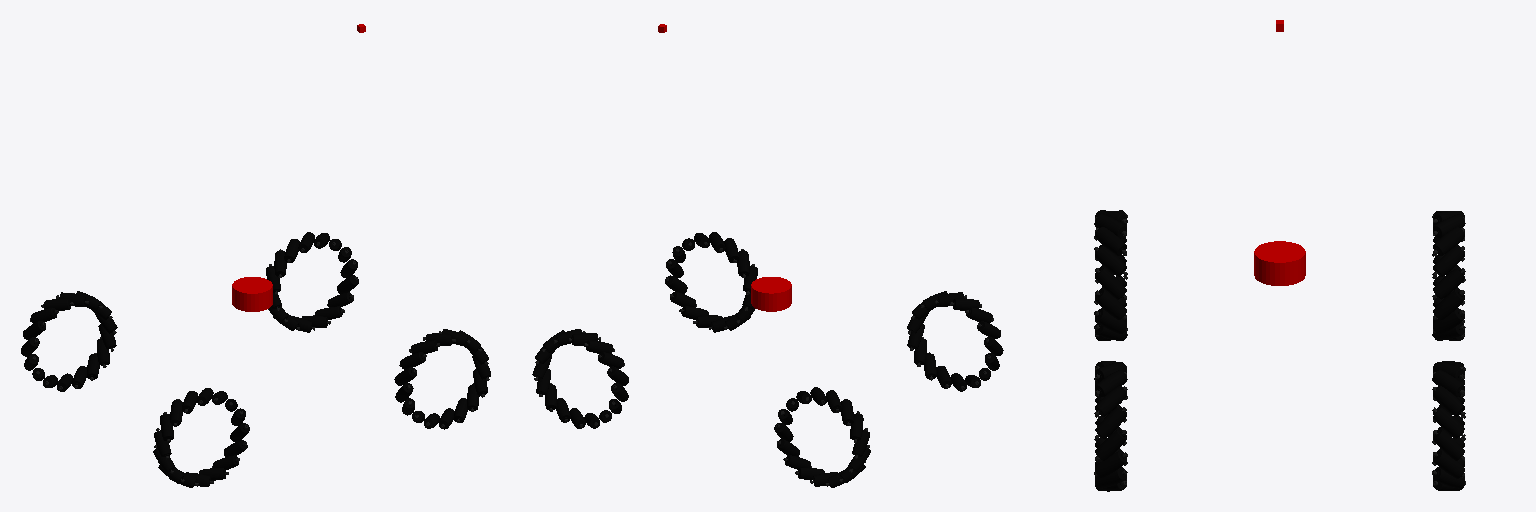
--- Render facts (derived) ---
The picture shows the robot from 3 angles, left to right: view 1: azimuth 30°, elevation 25°; view 2: azimuth 150°, elevation 25°; view 3: azimuth 270°, elevation 25°; orthographic projection.
Model robot with 81 links and 80 joints (6 revolute, 68 continuous, 2 prismatic, 4 fixed), rooted at world, posed all joints at 0.
Visible links, largest first — view 1: laser_frame; view 2: laser_frame; view 3: laser_frame, r5_LR_roller_link, r4_RR_roller_link, r3_RR_roller_link, r13_RF_roller_link, r4_LR_roller_link, r14_LF_roller_link, r15_LF_roller_link, r14_RF_roller_link, r3_LR_roller_link, r15_RF_roller_link, r5_RR_roller_link (+1 smaller).
Boxes of the visible links, bbox=[...] form: laser_frame: bbox=[232, 277, 272, 311]; laser_frame: bbox=[751, 277, 791, 311]; laser_frame: bbox=[1254, 241, 1305, 285]; r5_LR_roller_link: bbox=[1433, 290, 1464, 319]; r4_RR_roller_link: bbox=[1095, 268, 1126, 299]; r3_RR_roller_link: bbox=[1094, 246, 1127, 276]; r13_RF_roller_link: bbox=[1095, 430, 1126, 460]; r4_LR_roller_link: bbox=[1432, 268, 1465, 299]; r14_LF_roller_link: bbox=[1432, 407, 1465, 438]; r15_LF_roller_link: bbox=[1432, 386, 1465, 416]; r14_RF_roller_link: bbox=[1095, 407, 1126, 439]; r3_LR_roller_link: bbox=[1432, 246, 1464, 276]; r15_RF_roller_link: bbox=[1094, 386, 1127, 416]; r5_RR_roller_link: bbox=[1095, 290, 1126, 319].
Bounding box of the posed robot: 0.5668 × 0.4336 × 0.583 m (x, y, z).
Meshes: 12 distinct files referenced, 64 mesh visuals loaded (1 Collada DAE); not drawn: 14 (reference not matched to a file when rendering).

The robot description file, URDF, robot "robot":
<?xml version="1.0" ?>
<!-- =================================================================================== -->
<!-- |    This document was autogenerated by xacro from robot_description.urdf.xacro   | -->
<!-- |    EDITING THIS FILE BY HAND IS NOT RECOMMENDED                                 | -->
<!-- =================================================================================== -->
<robot name="robot">
  <!-- World 프레임 추가 -->
  <link name="world"/>
  <joint name="base_link_joint" type="fixed">
    <origin rpy="0 0 0" xyz="0 0 0"/>
    <parent link="world"/>
    <child link="base_link"/>
  </joint>
  <link name="base_link">
    <visual>
      <geometry>
        <mesh filename="package://robomaster_om_description/meshes/DAE/base/base_link_robomaster.dae"/>
      </geometry>
    </visual>
    <collision>
      <geometry>
        <mesh filename="package://robomaster_om_description/meshes/STL/base/base_link.stl"/>
      </geometry>
    </collision>
    <inertial>
      <origin xyz="-0.178 0 0"/>
      <mass value="6.44"/>
      <inertia ixx="0.055" ixy="0" ixz="0.005" iyy="0.143" iyz="0" izz="0.1637"/>
    </inertial>
    <surface>
      <friction>
        <ode>
          <mu>0.8</mu>
          <mu2>0.8</mu2>
          <kp>1e15</kp>
          <kd>1e13</kd>
        </ode>
      </friction>
      <bounce>
        <restitution_coefficient>0.01</restitution_coefficient>
        <threshold>10</threshold>
      </bounce>
      <contact>
        <ode>
          <max_vel>0.01</max_vel>
          <minDepth>0</minDepth>
          <contact_surface_layer>0</contact_surface_layer>
        </ode>
      </contact>
    </surface>
  </link>
  <!-- World -->
  <gazebo reference="world">
  </gazebo>
  <!-- Link1 -->
  <RefLink ref="link1"/>
  <!-- Link2 -->
  <RefLink ref="link2"/>
  <!-- Link3 -->
  <RefLink ref="link3"/>
  <!-- Link4 -->
  <RefLink ref="link4"/>
  <!-- Link5 -->
  <RefLink ref="link5"/>
  <!-- Link6 -->
  <RefLink ref="link6"/>
  <!-- Link7 -->
  <RefLink ref="link7"/>
  <!-- gripper_link -->
  <RefLink ref="gripper_link"/>
  <!-- gripper_link_sub -->
  <RefLink ref="gripper_link_sub"/>
  <!-- end effector link -->
  <gazebo reference="end_effector_link">
    <material>Gazebo/Red</material>
  </gazebo>
  <!-- ros_control plugin -->
  <gazebo>
    <plugin filename="libgazebo_ros_control.so" name="gazebo_ros_control">
      <!-- <robotNamespace>open_manipulator_6dof</robotNamespace> -->
      <controlPeriod>0.001</controlPeriod>
      <robotSimType>gazebo_ros_control/DefaultRobotHWSim</robotSimType>
    </plugin>
  </gazebo>
  <material name="black">
    <color rgba="0.0 0.0 0.0 1.0"/>
  </material>
  <material name="white">
    <color rgba="1.0 1.0 1.0 1.0"/>
  </material>
  <material name="red">
    <color rgba="0.8 0.0 0.0 1.0"/>
  </material>
  <material name="blue">
    <color rgba="0.0 0.0 0.8 1.0"/>
  </material>
  <material name="green">
    <color rgba="0.0 0.8 0.0 1.0"/>
  </material>
  <material name="grey">
    <color rgba="0.5 0.5 0.5 1.0"/>
  </material>
  <material name="orange">
    <color rgba="1.0 0.4235294117647059 0.0392156862745098 1.0"/>
  </material>
  <material name="brown">
    <color rgba="0.8705882352941177 0.8117647058823529 0.7647058823529411 1.0"/>
  </material>
  <!-- World -->
  <!-- <link name="world">
  </link> -->
  <!-- World fixed joint-->
  <!-- <joint name="world_fixed" type="fixed">
    <origin xyz="0 0 0" rpy="0 0 0"/>
    <parent link="world"/>
    <child link="link1"/>
  </joint> -->
  <!-- Link 1 -->
  <link name="link1">
    <visual>
      <origin rpy="0 0 0" xyz="0 0 0"/>
      <geometry>
        <mesh filename="package://robomaster_om_description/meshes/STL/chain_link1.stl" scale="0.001 0.001 0.001"/>
      </geometry>
      <material name="grey"/>
    </visual>
    <collision>
      <origin rpy="0 0 0" xyz="0 0 0"/>
      <geometry>
        <mesh filename="package://robomaster_om_description/meshes/STL/chain_link1.stl" scale="0.001 0.001 0.001"/>
      </geometry>
    </collision>
    <!--    <inertial>
      <origin xyz="0 0 0" />
      <mass value="0.082" />
      <inertia ixx="0.1" ixy="0.0" ixz="0.0"
               iyy="0.1" iyz="0.0"
               izz="0.1" />
    </inertial>-->
    <inertial>
      <origin xyz="3.0876154e-04 0.0000000e+00 -1.2176461e-04"/>
      <mass value="7.9119962e-02"/>
      <inertia ixx="1.2505234e-05" ixy="0.0" ixz="-1.7855208e-07" iyy="2.1898364e-05" iyz="0.0" izz="1.9267361e-05"/>
    </inertial>
  </link>
  <!-- Joint 1 -->
  <joint name="joint1" type="revolute">
    <parent link="link1"/>
    <child link="link2"/>
    <origin rpy="0 0 0" xyz="0.012 0.0 0.017"/>
    <axis xyz="0 0 1"/>
    <limit effort="1" lower="-2.827433388230814" upper="2.827433388230814" velocity="4.8"/>
  </joint>
  <transmission name="tran1">
    <type>transmission_interface/SimpleTransmission</type>
    <joint name="joint1">
      <hardwareInterface>hardware_interface/PositionJointInterface</hardwareInterface>
    </joint>
    <actuator name="motor1">
      <hardwareInterface>hardware_interface/PositionJointInterface</hardwareInterface>
      <mechanicalReduction>1</mechanicalReduction>
    </actuator>
  </transmission>
  <!--  Link 2 -->
  <link name="link2">
    <visual>
      <origin rpy="0 0 0" xyz="0 0 0.019"/>
      <geometry>
        <mesh filename="package://robomaster_om_description/meshes/STL/chain_link2.stl" scale="0.001 0.001 0.001"/>
      </geometry>
      <material name="grey"/>
    </visual>
    <collision>
      <origin rpy="0 0 0" xyz="0 0 0.019"/>
      <geometry>
        <mesh filename="package://robomaster_om_description/meshes/STL/chain_link2.stl" scale="0.001 0.001 0.001"/>
      </geometry>
    </collision>
    <!--    <inertial>
      <origin xyz="0 0 0" />
      <mass value="0.098" />
      <inertia ixx="0.1" ixy="0.0" ixz="0.0"
               iyy="0.1" iyz="0.0"
               izz="0.1" />
    </inertial>-->
    <inertial>
      <origin xyz="-3.0184870e-04 5.4043684e-04 0.047433463999999995"/>
      <mass value="9.8406837e-02"/>
      <inertia ixx="3.4543422e-05" ixy="-1.6031095e-08" ixz="-3.8375155e-07" iyy="3.2689329e-05" iyz="2.8511935e-08" izz="1.8850320e-05"/>
    </inertial>
  </link>
  <!--  Joint 2 -->
  <joint name="joint2" type="revolute">
    <parent link="link2"/>
    <child link="link3"/>
    <origin rpy="0 0 0" xyz="0.0 0.0 0.0595"/>
    <axis xyz="0 1 0"/>
    <limit effort="1" lower="-2.0420352248333655" upper="2.1048670779051615" velocity="4.8"/>
  </joint>
  <transmission name="tran2">
    <type>transmission_interface/SimpleTransmission</type>
    <joint name="joint2">
      <hardwareInterface>hardware_interface/PositionJointInterface</hardwareInterface>
    </joint>
    <actuator name="motor2">
      <hardwareInterface>hardware_interface/PositionJointInterface</hardwareInterface>
      <mechanicalReduction>1</mechanicalReduction>
    </actuator>
  </transmission>
  <!--  Link 3 -->
  <link name="link3">
    <visual>
      <origin rpy="0 0 0" xyz="0 0 0"/>
      <geometry>
        <mesh filename="package://robomaster_om_description/meshes/STL/chain_link3.stl" scale="0.001 0.001 0.001"/>
      </geometry>
      <material name="grey"/>
    </visual>
    <collision>
      <origin rpy="0 0 0" xyz="0 0 0"/>
      <geometry>
        <mesh filename="package://robomaster_om_description/meshes/STL/chain_link3.stl" scale="0.001 0.001 0.001"/>
      </geometry>
    </collision>
    <!-- <inertial>
      <origin xyz="0 0 0" />
      <mass value="0.131" />
      <inertia ixx="0.1" ixy="0.0" ixz="0.0"
               iyy="0.1" iyz="0.0"
               izz="0.1" />
    </inertial> -->
    <inertial>
      <origin xyz="1.0308393e-02 3.7743363e-04 1.0170197e-01"/>
      <mass value="1.3850917e-01"/>
      <inertia ixx="3.3055381e-04" ixy="-9.7940978e-08" ixz="-3.8505711e-05" iyy="3.4290447e-04" iyz="-1.5717516e-06" izz="6.0346498e-05"/>
    </inertial>
  </link>
  <!--  Joint 3 -->
  <joint name="joint3" type="revolute">
    <parent link="link3"/>
    <child link="link4"/>
    <origin rpy="0 0 0" xyz="0.0 0 0.124"/>
    <axis xyz="0 1 0"/>
    <limit effort="1" lower="-1.8849555921538759" upper="2.1362830044410597" velocity="4.8"/>
  </joint>
  <transmission name="tran3">
    <type>transmission_interface/SimpleTransmission</type>
    <joint name="joint3">
      <hardwareInterface>hardware_interface/PositionJointInterface</hardwareInterface>
    </joint>
    <actuator name="motor3">
      <hardwareInterface>hardware_interface/PositionJointInterface</hardwareInterface>
      <mechanicalReduction>1</mechanicalReduction>
    </actuator>
  </transmission>
  <!--  Link 4 -->
  <link name="link4">
    <visual>
      <origin rpy="0 0 0" xyz="0 0 0"/>
      <geometry>
        <mesh filename="package://robomaster_om_description/meshes/STL/chain_link4.stl" scale="0.001 0.001 0.001"/>
      </geometry>
      <material name="grey"/>
    </visual>
    <collision>
      <origin rpy="0 0 0" xyz="0 0 0"/>
      <geometry>
        <mesh filename="package://robomaster_om_description/meshes/STL/chain_link4.stl" scale="0.001 0.001 0.001"/>
      </geometry>
    </collision>
    <!-- <inertial>
      <origin xyz="0 0 0" />
      <mass value="0.098" />
      <inertia ixx="0.1" ixy="0.0" ixz="0.0"
               iyy="0.1" iyz="0.0"
               izz="0.1" />
    </inertial> -->
    <inertial>
      <origin xyz="9.0909590e-02 3.8929816e-04 2.2413279e-04"/>
      <mass value="1.3274562e-01"/>
      <inertia ixx="3.0654178e-05" ixy="-1.2764155e-06" ixz="-2.6874417e-07" iyy="2.4230292e-04" iyz="1.1559550e-08" izz="2.5155057e-04"/>
    </inertial>
  </link>
  <!--  Joint 4 -->
  <joint name="joint4" type="revolute">
    <parent link="link4"/>
    <child link="link5"/>
    <origin rpy="0 0 0" xyz="0.0 0.0 0.045"/>
    <axis xyz="0 0 1"/>
    <limit effort="1" lower="-2.827433388230814" upper="2.827433388230814" velocity="4.8"/>
  </joint>
  <transmission name="tran4">
    <type>transmission_interface/SimpleTransmission</type>
    <joint name="joint4">
      <hardwareInterface>hardware_interface/PositionJointInterface</hardwareInterface>
    </joint>
    <actuator name="motor4">
      <hardwareInterface>hardware_interface/PositionJointInterface</hardwareInterface>
      <mechanicalReduction>1</mechanicalReduction>
    </actuator>
  </transmission>
  <!--  Link 5 -->
  <link name="link5">
    <visual>
      <origin rpy="0 0 0" xyz="0 0 0.019"/>
      <geometry>
        <mesh filename="package://robomaster_om_description/meshes/STL/chain_link5.stl" scale="0.001 0.001 0.001"/>
      </geometry>
      <material name="grey"/>
    </visual>
    <collision>
      <origin rpy="0 0 0" xyz="0 0 0.019"/>
      <geometry>
        <mesh filename="package://robomaster_om_description/meshes/STL/chain_link5.stl" scale="0.001 0.001 0.001"/>
      </geometry>
    </collision>
    <!-- <inertial>
      <origin xyz="0 0 0" />
      <mass value="0.098" />
      <inertia ixx="0.1" ixy="0.0" ixz="0.0"
               iyy="0.1" iyz="0.0"
               izz="0.1" />
    </inertial> -->
    <inertial>
      <origin xyz="4.4206755e-02 3.6839985e-07 8.9142216e-03"/>
      <mass value="1.4327573e-01"/>
      <inertia ixx="8.0870749e-05" ixy="0.0" ixz="-1.0157896e-06" iyy="7.5980465e-05" iyz="0.0" izz="9.3127351e-05"/>
    </inertial>
  </link>
  <!--  Joint 5 -->
  <joint name="joint5" type="revolute">
    <parent link="link5"/>
    <child link="link6"/>
    <origin rpy="0 0 0" xyz="0.0 0.0 0.0595"/>
    <axis xyz="0 1 0"/>
    <limit effort="1" lower="-1.9792033717615696" upper="2.1048670779051615" velocity="4.8"/>
  </joint>
  <transmission name="tran5">
    <type>transmission_interface/SimpleTransmission</type>
    <joint name="joint5">
      <hardwareInterface>hardware_interface/PositionJointInterface</hardwareInterface>
    </joint>
    <actuator name="motor5">
      <hardwareInterface>hardware_interface/PositionJointInterface</hardwareInterface>
      <mechanicalReduction>1</mechanicalReduction>
    </actuator>
  </transmission>
  <!--  Link 6 -->
  <link name="link6">
    <visual>
      <origin rpy="0 0 0" xyz="0 0 0.0"/>
      <geometry>
        <mesh filename="package://robomaster_om_description/meshes/STL/chain_link6.stl" scale="0.001 0.001 0.001"/>
      </geometry>
      <material name="grey"/>
    </visual>
    <collision>
      <origin rpy="0 0 0" xyz="0 0 0.0"/>
      <geometry>
        <mesh filename="package://robomaster_om_description/meshes/STL/chain_link6.stl" scale="0.001 0.001 0.001"/>
      </geometry>
    </collision>
    <!-- <inertial>
      <origin xyz="0 0 0" />
      <mass value="0.033" />
      <inertia ixx="0.1" ixy="0.0" ixz="0.0"
               iyy="0.1" iyz="0.0"
               izz="0.1" />
    </inertial> -->
    <inertial>
      <origin xyz="4.4206755e-02 3.6839985e-07 8.9142216e-03"/>
      <mass value="1.4327573e-01"/>
      <inertia ixx="8.0870749e-05" ixy="0.0" ixz="-1.0157896e-06" iyy="7.5980465e-05" iyz="0.0" izz="9.3127351e-05"/>
    </inertial>
  </link>
  <!--  Joint 6 -->
  <joint name="joint6" type="revolute">
    <parent link="link6"/>
    <child link="link7"/>
    <origin rpy="0 0 0" xyz="0.0 0.0 0.0475"/>
    <axis xyz="0 0 1"/>
    <limit effort="1" lower="-2.827433388230814" upper="2.827433388230814" velocity="4.8"/>
  </joint>
  <transmission name="tran6">
    <type>transmission_interface/SimpleTransmission</type>
    <joint name="joint6">
      <hardwareInterface>hardware_interface/PositionJointInterface</hardwareInterface>
    </joint>
    <actuator name="motor6">
      <hardwareInterface>hardware_interface/PositionJointInterface</hardwareInterface>
      <mechanicalReduction>1</mechanicalReduction>
    </actuator>
  </transmission>
  <!--  Link 7 -->
  <link name="link7">
    <visual>
      <origin rpy="0 0 0" xyz="0 0 0.0"/>
      <geometry>
        <mesh filename="package://robomaster_om_description/meshes/STL/chain_link7.stl" scale="0.001 0.001 0.001"/>
      </geometry>
      <material name="grey"/>
    </visual>
    <collision>
      <origin rpy="0 0 0" xyz="0 0 0.0"/>
      <geometry>
        <mesh filename="package://robomaster_om_description/meshes/STL/chain_link7.stl" scale="0.001 0.001 0.001"/>
      </geometry>
    </collision>
    <!-- <inertial>
      <origin xyz="0 0 0" />
      <mass value="0.228" />
      <inertia ixx="0.1" ixy="0.0" ixz="0.0"
               iyy="0.1" iyz="0.0"
               izz="0.1" />
    </inertial> -->
    <inertial>
      <origin xyz="4.4206755e-02 3.6839985e-07 8.9142216e-03"/>
      <mass value="1.4327573e-01"/>
      <inertia ixx="8.0870749e-05" ixy="0.0" ixz="-1.0157896e-06" iyy="7.5980465e-05" iyz="0.0" izz="9.3127351e-05"/>
    </inertial>
  </link>
  <!--  Gripper link -->
  <link name="gripper_link">
    <visual>
      <origin rpy="0 0 0" xyz="0.0 0.0 0"/>
      <geometry>
        <mesh filename="package://robomaster_om_description/meshes/STL/chain_link_grip_l.stl" scale="0.001 0.001 0.001"/>
      </geometry>
      <material name="grey"/>
    </visual>
    <collision>
      <origin rpy="0 0 0" xyz="0.0 0.0 0"/>
      <geometry>
        <mesh filename="package://robomaster_om_description/meshes/STL/chain_link_grip_l.stl" scale="0.001 0.001 0.001"/>
      </geometry>
    </collision>
    <!-- <inertial>
      <origin xyz="0 0 0" />
      <mass value="0.017" />
      <inertia ixx="1.0e-03" ixy="0.0" ixz="0.0"
               iyy="1.0e-03" iyz="0.0"
               izz="1.0e-03" />
    </inertial> -->
    <inertial>
      <origin xyz="0.0363720668 0.034569616 -4.2836895e-07"/>
      <mass value="3.2218127e-02"/>
      <inertia ixx="9.5568826e-06" ixy="2.8424644e-06" ixz="-3.2829197e-10" iyy="2.2552871e-05" iyz="-3.1463634e-10" izz="1.7605306e-05"/>
    </inertial>
  </link>
  <!--  Gripper joint -->
  <joint name="gripper" type="prismatic">
    <parent link="link7"/>
    <child link="gripper_link"/>
    <origin rpy="0 0 0" xyz="0.0 0.021 0.0707"/>
    <axis xyz="0 1 0"/>
    <limit effort="1" lower="-0.010" upper="0.019" velocity="4.8"/>
  </joint>
  <transmission name="tran7">
    <type>transmission_interface/SimpleTransmission</type>
    <joint name="gripper">
      <hardwareInterface>hardware_interface/PositionJointInterface</hardwareInterface>
    </joint>
    <actuator name="motor7">
      <hardwareInterface>hardware_interface/PositionJointInterface</hardwareInterface>
      <mechanicalReduction>1</mechanicalReduction>
    </actuator>
  </transmission>
  <!--  Gripper link sub -->
  <link name="gripper_link_sub">
    <visual>
      <origin rpy="0 0 0" xyz="0.0 -0.0 0"/>
      <geometry>
        <mesh filename="package://robomaster_om_description/meshes/STL/chain_link_grip_r.stl" scale="0.001 0.001 0.001"/>
      </geometry>
      <material name="grey"/>
    </visual>
    <collision>
      <origin rpy="0 0 0" xyz="0.0 -0.0 0"/>
      <geometry>
        <mesh filename="package://robomaster_om_description/meshes/STL/chain_link_grip_r.stl" scale="0.001 0.001 0.001"/>
      </geometry>
    </collision>
    <!-- <inertial>
      <origin xyz="0 0 0" />
      <mass value="0.017" />
      <inertia ixx="1.0e-03" ixy="0.0" ixz="0.0"
               iyy="1.0e-03" iyz="0.0"
               izz="1.0e-03" />
    </inertial> -->
    <inertial>
      <origin xyz="0.0363720668 -0.034569616 -4.2836895e-07"/>
      <mass value="3.2218127e-02"/>
      <inertia ixx="9.5568826e-06" ixy="2.8424644e-06" ixz="-3.2829197e-10" iyy="2.2552871e-05" iyz="-3.1463634e-10" izz="1.7605306e-05"/>
    </inertial>
  </link>
  <!--  Gripper joint sub -->
  <joint name="gripper_sub" type="prismatic">
    <parent link="link7"/>
    <child link="gripper_link_sub"/>
    <origin rpy="0 0 0" xyz="0.0 -0.021 0.0707"/>
    <axis xyz="0 -1 0"/>
    <limit effort="1" lower="-0.010" upper="0.019" velocity="4.8"/>
    <mimic joint="gripper" multiplier="1"/>
  </joint>
  <transmission name="tran8">
    <type>transmission_interface/SimpleTransmission</type>
    <joint name="gripper_sub">
      <hardwareInterface>hardware_interface/PositionJointInterface</hardwareInterface>
    </joint>
    <actuator name="motor8">
      <hardwareInterface>hardware_interface/PositionJointInterface</hardwareInterface>
      <mechanicalReduction>1</mechanicalReduction>
    </actuator>
  </transmission>
  <!-- end effector joint -->
  <joint name="end_effector_joint" type="fixed">
    <origin rpy="0 0 0" xyz="0.0 0.0 0.115"/>
    <parent link="link7"/>
    <child link="end_effector_link"/>
  </joint>
  <!-- end effector link -->
  <link name="end_effector_link">
    <visual>
      <origin rpy="0 0 0" xyz="0 0 0"/>
      <geometry>
        <box size="0.01 0.01 0.01"/>
      </geometry>
      <material name="red"/>
    </visual>
    <inertial>
      <origin rpy="0 0 0" xyz="0.0 0.0 0.0"/>
      <mass value="0.001"/>
      <inertia ixx="1.0e-06" ixy="0.0" ixz="0.0" iyy="1.0e-06" iyz="0.0" izz="1.0e-06"/>
    </inertial>
  </link>
  <!-- COLOR -->
  <!-- <material name="white">
        <color rgba="1 1 1 1" />
    </material>

    <material name="blue">
        <color rgba="0 0 1 1"/>
    </material>

    <material name="black">
        <color rgba="0 0 0 1"/>
    </material>

    <material name="red">
        <color rgba="1 0 0 1"/>
    </material> -->
  <!-- =============== Link & Joint =============== -->
  <!-- Base -->
  <!-- base_footprint 링크 정의 -->
  <!-- <link name="base_footprint"/> -->
  <!-- base_footprint를 world에 고정 연결 -->
  <!-- <joint name="world_to_base_footprint" type="fixed">
  <parent link="world"/>
  <child link="base_footprint"/>
  <origin xyz="0 0 0" rpy="0 0 0"/>
</joint> -->
  <!-- base_link를 base_v0 매크로로 생성하고 world에 고정 연결 -->
  <!-- <xacro:base_v0 parent="world">
  <origin xyz="0 0 0" rpy="0 0 0"/>
</xacro:base_v0> -->
  <joint name="right_front_wheel_joint" type="continuous">
    <origin xyz="0.0385 -0.1826 -0.0345"/>
    <parent link="base_link"/>
    <child link="right_front_wheel_link"/>
    <limit effort="100" velocity="100"/>
    <axis xyz="0 1 0"/>
  </joint>
  <link name="right_front_wheel_link">
    <visual>
      <geometry>
        <mesh filename="package://robomaster_om_description/meshes/DAE/wheel/wheel_link.dae"/>
      </geometry>
    </visual>
    <collision>
      <geometry>
        <mesh filename="package://robomaster_om_description/meshes/STL/mecanum_wheel/mecanum_wheel.stl"/>
      </geometry>
    </collision>
    <inertial>
      <origin xyz="0.0 -0.011 -0.0"/>
      <mass value="0.25"/>
      <inertia ixx="0.00031" ixy="0" ixz="0" iyy="0.0005" iyz="0" izz="0.00031"/>
    </inertial>
    <surface>
      <friction>
        <ode>
          <mu1>1.2</mu1>
          <mu2>1.2</mu2>
          <kp>1e15</kp>
          <kd>1e13</kd>
        </ode>
      </friction>
      <bounce>
        <restitution_coefficient>0.01</restitution_coefficient>
        <threshold>0</threshold>
      </bounce>
      <contact>
        <ode>
          <max_vel>10</max_vel>
        </ode>
      </contact>
    </surface>
  </link>
  <joint name="r1_RF_roller_joint" type="continuous">
    <origin rpy="-0.0698 -0.00524 0.7854" xyz="-0.006546 -0.0143 0.066466"/>
    <parent link="right_front_wheel_link"/>
    <child link="r1_RF_roller_link"/>
    <axis xyz="0 1 0"/>
  </joint>
  <link name="r1_RF_roller_link">
    <visual>
      <geometry>
        <mesh filename="package://robomaster_om_description/meshes/DAE/roller/roller.dae"/>
      </geometry>
    </visual>
    <collision>
      <geometry>
        <mesh filename="package://robomaster_om_description/meshes/STL/roller/roller.stl"/>
      </geometry>
    </collision>
    <inertial>
      <origin xyz="0.0 0.0 0.0"/>
      <mass value="0.009"/>
      <inertia ixx="0.000001257" ixy="0" ixz="0" iyy="0.000000342" iyz="0" izz="0.000001257"/>
    </inertial>
    <surface>
      <friction>
        <ode>
          <mu1>1.2</mu1>
          <mu2>1.2</mu2>
          <kp>1e15</kp>
          <kd>1e13</kd>
        </ode>
      </friction>
      <bounce>
        <restitution_coefficient>0.01</restitution_coefficient>
        <threshold>0</threshold>
      </bounce>
      <contact>
        <ode>
          <max_vel>10</max_vel>
        </ode>
      </contact>
    </surface>
  </link>
  <joint name="r2_RF_roller_joint" type="continuous">
    <origin rpy="-0.342 -0.1117 0.7854" xyz="-0.031483 -0.0143 0.058902"/>
    <parent link="right_front_wheel_link"/>
    <child link="r2_RF_roller_link"/>
    <axis xyz="0 1 0"/>
  </joint>
  <link name="r2_RF_roller_link">
    <visual>
      <geometry>
        <mesh filename="package://robomaster_om_description/meshes/DAE/roller/roller.dae"/>
      </geometry>
    </visual>
    <collision>
      <geometry>
        <mesh filename="package://robomaster_om_description/meshes/STL/roller/roller.stl"/>
      </geometry>
    </collision>
    <inertial>
      <origin xyz="0.0 0.0 0.0"/>
      <mass value="0.009"/>
      <inertia ixx="0.000001257" ixy="0" ixz="0" iyy="0.000000342" iyz="0" izz="0.000001257"/>
    </inertial>
    <surface>
      <friction>
        <ode>
          <mu1>1.2</mu1>
          <mu2>1.2</mu2>
          <kp>1e15</kp>
          <kd>1e13</kd>
        </ode>
      </friction>
      <bounce>
        <restitution_coefficient>0.01</restitution_coefficient>
        <threshold>0</threshold>
      </bounce>
      <contact>
        <ode>
          <max_vel>10</max_vel>
        </ode>
      </contact>
    </surface>
  </link>
  <joint name="r3_RF_roller_joint" type="continuous">
    <origin rpy="-0.5777 -0.3194 0.7854" xyz="-0.051628 -0.0143 0.04237"/>
    <parent link="right_front_wheel_link"/>
    <child link="r3_RF_roller_link"/>
    <axis xyz="0 1 0"/>
  </joint>
  <link name="r3_RF_roller_link">
    <visual>
      <geometry>
        <mesh filename="package://robomaster_om_description/meshes/DAE/roller/roller.dae"/>
      </geometry>
    </visual>
    <collision>
      <geometry>
        <mesh filename="package://robomaster_om_description/meshes/STL/roller/roller.stl"/>
      </geometry>
    </collision>
    <inertial>
      <origin xyz="0.0 0.0 0.0"/>
      <mass value="0.009"/>
      <inertia ixx="0.000001257" ixy="0" ixz="0" iyy="0.000000342" iyz="0" izz="0.000001257"/>
    </inertial>
    <surface>
      <friction>
        <ode>
          <mu1>1.2</mu1>
          <mu2>1.2</mu2>
          <kp>1e15</kp>
          <kd>1e13</kd>
        </ode>
      </friction>
      <bounce>
        <restitution_coefficient>0.01</restitution_coefficient>
        <threshold>0</threshold>
      </bounce>
      <contact>
        <ode>
          <max_vel>10</max_vel>
        </ode>
      </contact>
    </surface>
  </link>
  <joint name="r4_RE_roller_joint" type="continuous">
    <origin rpy="-0.82 -0.52 0.7854" xyz="-0.063912 -0.0143 0.019388"/>
    <parent link="right_front_wheel_link"/>
    <child link="r4_RE_roller_link"/>
    <axis xyz="0 1 0"/>
  </joint>
  <link name="r4_RE_roller_link">
    <visual>
      <geometry>
        <mesh filename="package://robomaster_om_description/meshes/DAE/roller/roller.dae"/>
      </geometry>
    </visual>
    <collision>
      <geometry>
        <mesh filename="package://robomaster_om_description/meshes/STL/roller/roller.stl"/>
      </geometry>
    </collision>
    <inertial>
      <origin xyz="0.0 0.0 0.0"/>
      <mass value="0.009"/>
      <inertia ixx="0.000001257" ixy="0" ixz="0" iyy="0.000000342" iyz="0" izz="0.000001257"/>
    </inertial>
    <surface>
      <friction>
        <ode>
          <mu1>1.2</mu1>
          <mu2>1.2</mu2>
          <kp>1e15</kp>
          <kd>1e13</kd>
        </ode>
      </friction>
      <bounce>
        <restitution_coefficient>0.01</restitution_coefficient>
        <threshold>0</threshold>
      </bounce>
      <contact>
        <ode>
          <max_vel>10</max_vel>
        </ode>
      </contact>
    </surface>
  </link>
  <joint name="r5_RF_roller_joint" type="continuous">
    <origin rpy="-1.08 -0.62 0.7854" xyz="-0.066466 -0.0143 -0.006546"/>
    <parent link="right_front_wheel_link"/>
    <child link="r5_RF_roller_link"/>
    <axis xyz="0 1 0"/>
  </joint>
  <link name="r5_RF_roller_link">
    <visual>
      <geometry>
        <mesh filename="package://robomaster_om_description/meshes/DAE/roller/roller.dae"/>
      </geometry>
    </visual>
    <collision>
      <geometry>
        <mesh filename="package://robomaster_om_description/meshes/STL/roller/roller.stl"/>
      </geometry>
    </collision>
    <inertial>
      <origin xyz="0.0 0.0 0.0"/>
      <mass value="0.009"/>
      <inertia ixx="0.000001257" ixy="0" ixz="0" iyy="0.000000342" iyz="0" izz="0.000001257"/>
    </inertial>
    <surface>
      <friction>
        <ode>
          <mu1>1.2</mu1>
          <mu2>1.2</mu2>
          <kp>1e15</kp>
          <kd>1e13</kd>
        </ode>
      </friction>
      <bounce>
        <restitution_coefficient>0.01</restitution_coefficient>
        <threshold>0</threshold>
      </bounce>
      <contact>
        <ode>
          <max_vel>10</max_vel>
        </ode>
      </contact>
    </surface>
  </link>
  <joint name="r6_RF_roller_joint" type="continuous">
    <origin rpy="-1.28 -0.82 0.7854" xyz="-0.058902 -0.0143 -0.031483"/>
    <parent link="right_front_wheel_link"/>
    <child link="r6_RF_roller_link"/>
    <axis xyz="0 1 0"/>
  </joint>
  <link name="r6_RF_roller_link">
    <visual>
      <geometry>
        <mesh filename="package://robomaster_om_description/meshes/DAE/roller/roller.dae"/>
      </geometry>
    </visual>
    <collision>
      <geometry>
        <mesh filename="package://robomaster_om_description/meshes/STL/roller/roller.stl"/>
      </geometry>
    </collision>
    <inertial>
      <origin xyz="0.0 0.0 0.0"/>
      <mass value="0.009"/>
      <inertia ixx="0.000001257" ixy="0" ixz="0" iyy="0.000000342" iyz="0" izz="0.000001257"/>
    </inertial>
    <surface>
      <friction>
        <ode>
          <mu1>1.2</mu1>
          <mu2>1.2</mu2>
          <kp>1e15</kp>
          <kd>1e13</kd>
        </ode>
      </friction>
      <bounce>
        <restitution_coefficient>0.01</restitution_coefficient>
        <threshold>0</threshold>
      </bounce>
      <contact>
        <ode>
          <max_vel>10</max_vel>
        </ode>
      </contact>
    </surface>
  </link>
  <joint name="r7_RF_roller_joint" type="continuous">
    <origin rpy="-1.44 -1.1 0.7854" xyz="-0.04237 -0.0143 -0.051628"/>
    <parent link="right_front_wheel_link"/>
    <child link="r7_RF_roller_link"/>
    <axis xyz="0 1 0"/>
  </joint>
  <link name="r7_RF_roller_link">
    <visual>
      <geometry>
        <mesh filename="package://robomaster_om_description/meshes/DAE/roller/roller.dae"/>
      </geometry>
    </visual>
    <collision>
      <geometry>
        <mesh filename="package://robomaster_om_description/meshes/STL/roller/roller.stl"/>
      </geometry>
    </collision>
    <inertial>
      <origin xyz="0.0 0.0 0.0"/>
      <mass value="0.009"/>
      <inertia ixx="0.000001257" ixy="0" ixz="0" iyy="0.000000342" iyz="0" izz="0.000001257"/>
    </inertial>
    <surface>
      <friction>
        <ode>
          <mu1>1.2</mu1>
          <mu2>1.2</mu2>
          <kp>1e15</kp>
          <kd>1e13</kd>
        </ode>
      </friction>
      <bounce>
        <restitution_coefficient>0.01</restitution_coefficient>
        <threshold>0</threshold>
      </bounce>
      <contact>
        <ode>
          <max_vel>10</max_vel>
        </ode>
      </contact>
    </surface>
  </link>
  <joint name="r8_RF_roller_joint" type="continuous">
    <origin rpy="-1.56 -1.36 0.7854" xyz="-0.019388 -0.0143 -0.063912"/>
    <parent link="right_front_wheel_link"/>
    <child link="r8_RF_roller_link"/>
    <axis xyz="0 1 0"/>
  </joint>
  <link name="r8_RF_roller_link">
    <visual>
      <geometry>
        <mesh filename="package://robomaster_om_description/meshes/DAE/roller/roller.dae"/>
      </geometry>
    </visual>
    <collision>
      <geometry>
        <mesh filename="package://robomaster_om_description/meshes/STL/roller/roller.stl"/>
      </geometry>
    </collision>
    <inertial>
      <origin xyz="0.0 0.0 0.0"/>
      <mass value="0.009"/>
      <inertia ixx="0.000001257" ixy="0" ixz="0" iyy="0.000000342" iyz="0" izz="0.000001257"/>
    </inertial>
    <surface>
      <friction>
        <ode>
          <mu1>1.2</mu1>
          <mu2>1.2</mu2>
          <kp>1e15</kp>
          <kd>1e13</kd>
        </ode>
      </friction>
      <bounce>
        <restitution_coefficient>0.01</restitution_coefficient>
        <threshold>0</threshold>
      </bounce>
      <contact>
        <ode>
          <max_vel>10</max_vel>
        </ode>
      </contact>
    </surface>
  </link>
  <joint name="r9_RF_roller_joint" type="continuous">
    <origin rpy="0.0698 -0.00524 -0.7854" xyz="0.006546 -0.0143 -0.066466"/>
    <parent link="right_front_wheel_link"/>
    <child link="r9_RF_roller_link"/>
    <axis xyz="0 1 0"/>
  </joint>
  <link name="r9_RF_roller_link">
    <visual>
      <geometry>
        <mesh filename="package://robomaster_om_description/meshes/DAE/roller/roller.dae"/>
      </geometry>
    </visual>
    <collision>
      <geometry>
        <mesh filename="package://robomaster_om_description/meshes/STL/roller/roller.stl"/>
      </geometry>
    </collision>
    <inertial>
      <origin xyz="0.0 0.0 0.0"/>
      <mass value="0.009"/>
      <inertia ixx="0.000001257" ixy="0" ixz="0" iyy="0.000000342" iyz="0" izz="0.000001257"/>
    </inertial>
    <surface>
      <friction>
        <ode>
          <mu1>1.2</mu1>
          <mu2>1.2</mu2>
          <kp>1e15</kp>
          <kd>1e13</kd>
        </ode>
      </friction>
      <bounce>
        <restitution_coefficient>0.01</restitution_coefficient>
        <threshold>0</threshold>
      </bounce>
      <contact>
        <ode>
          <max_vel>10</max_vel>
        </ode>
      </contact>
    </surface>
  </link>
  <joint name="r10_RF_roller_joint" type="continuous">
    <origin rpy="0.342 -0.1117 -0.7854" xyz="0.031483 -0.0143 -0.058902"/>
    <parent link="right_front_wheel_link"/>
    <child link="r10_RF_roller_link"/>
    <axis xyz="0 1 0"/>
  </joint>
  <link name="r10_RF_roller_link">
    <visual>
      <geometry>
        <mesh filename="package://robomaster_om_description/meshes/DAE/roller/roller.dae"/>
      </geometry>
    </visual>
    <collision>
      <geometry>
        <mesh filename="package://robomaster_om_description/meshes/STL/roller/roller.stl"/>
      </geometry>
    </collision>
    <inertial>
      <origin xyz="0.0 0.0 0.0"/>
      <mass value="0.009"/>
      <inertia ixx="0.000001257" ixy="0" ixz="0" iyy="0.000000342" iyz="0" izz="0.000001257"/>
    </inertial>
    <surface>
      <friction>
        <ode>
          <mu1>1.2</mu1>
          <mu2>1.2</mu2>
          <kp>1e15</kp>
          <kd>1e13</kd>
        </ode>
      </friction>
      <bounce>
        <restitution_coefficient>0.01</restitution_coefficient>
        <threshold>0</threshold>
      </bounce>
      <contact>
        <ode>
          <max_vel>10</max_vel>
        </ode>
      </contact>
    </surface>
  </link>
  <joint name="r11_RF_roller_joint" type="continuous">
    <origin rpy="0.5777 -0.3194 -0.7854" xyz="0.051628 -0.0143 -0.04237"/>
    <parent link="right_front_wheel_link"/>
    <child link="r11_RF_roller_link"/>
    <axis xyz="0 1 0"/>
  </joint>
  <link name="r11_RF_roller_link">
    <visual>
      <geometry>
        <mesh filename="package://robomaster_om_description/meshes/DAE/roller/roller.dae"/>
      </geometry>
    </visual>
    <collision>
      <geometry>
        <mesh filename="package://robomaster_om_description/meshes/STL/roller/roller.stl"/>
      </geometry>
    </collision>
    <inertial>
      <origin xyz="0.0 0.0 0.0"/>
      <mass value="0.009"/>
      <inertia ixx="0.000001257" ixy="0" ixz="0" iyy="0.000000342" iyz="0" izz="0.000001257"/>
    </inertial>
    <surface>
      <friction>
        <ode>
          <mu1>1.2</mu1>
          <mu2>1.2</mu2>
          <kp>1e15</kp>
          <kd>1e13</kd>
        </ode>
      </friction>
      <bounce>
        <restitution_coefficient>0.01</restitution_coefficient>
        <threshold>0</threshold>
      </bounce>
      <contact>
        <ode>
          <max_vel>10</max_vel>
        </ode>
      </contact>
    </surface>
  </link>
  <joint name="r12_RF_roller_joint" type="continuous">
    <origin rpy="0.82 -0.52 -0.7854" xyz="0.063912 -0.0143 -0.019388"/>
    <parent link="right_front_wheel_link"/>
    <child link="r12_RF_roller_link"/>
    <axis xyz="0 1 0"/>
  </joint>
  <link name="r12_RF_roller_link">
    <visual>
      <geometry>
        <mesh filename="package://robomaster_om_description/meshes/DAE/roller/roller.dae"/>
      </geometry>
    </visual>
    <collision>
      <geometry>
        <mesh filename="package://robomaster_om_description/meshes/STL/roller/roller.stl"/>
      </geometry>
    </collision>
    <inertial>
      <origin xyz="0.0 0.0 0.0"/>
      <mass value="0.009"/>
      <inertia ixx="0.000001257" ixy="0" ixz="0" iyy="0.000000342" iyz="0" izz="0.000001257"/>
    </inertial>
    <surface>
      <friction>
        <ode>
          <mu1>1.2</mu1>
          <mu2>1.2</mu2>
          <kp>1e15</kp>
          <kd>1e13</kd>
        </ode>
      </friction>
      <bounce>
        <restitution_coefficient>0.01</restitution_coefficient>
        <threshold>0</threshold>
      </bounce>
      <contact>
        <ode>
          <max_vel>10</max_vel>
        </ode>
      </contact>
    </surface>
  </link>
  <joint name="r13_RF_roller_joint" type="continuous">
    <origin rpy="1.08 -0.62 -0.7854" xyz="0.066466 -0.0143 0.006546"/>
    <parent link="right_front_wheel_link"/>
    <child link="r13_RF_roller_link"/>
    <axis xyz="0 1 0"/>
  </joint>
  <link name="r13_RF_roller_link">
    <visual>
      <geometry>
        <mesh filename="package://robomaster_om_description/meshes/DAE/roller/roller.dae"/>
      </geometry>
    </visual>
    <collision>
      <geometry>
        <mesh filename="package://robomaster_om_description/meshes/STL/roller/roller.stl"/>
      </geometry>
    </collision>
    <inertial>
      <origin xyz="0.0 0.0 0.0"/>
      <mass value="0.009"/>
      <inertia ixx="0.000001257" ixy="0" ixz="0" iyy="0.000000342" iyz="0" izz="0.000001257"/>
    </inertial>
    <surface>
      <friction>
        <ode>
          <mu1>1.2</mu1>
          <mu2>1.2</mu2>
          <kp>1e15</kp>
          <kd>1e13</kd>
        </ode>
      </friction>
      <bounce>
        <restitution_coefficient>0.01</restitution_coefficient>
        <threshold>0</threshold>
      </bounce>
      <contact>
        <ode>
          <max_vel>10</max_vel>
        </ode>
      </contact>
    </surface>
  </link>
  <joint name="r14_RF_roller_joint" type="continuous">
    <origin rpy="1.28 -0.82 -0.7854" xyz="0.058902 -0.0143 0.031483"/>
    <parent link="right_front_wheel_link"/>
    <child link="r14_RF_roller_link"/>
    <axis xyz="0 1 0"/>
  </joint>
  <link name="r14_RF_roller_link">
    <visual>
      <geometry>
        <mesh filename="package://robomaster_om_description/meshes/DAE/roller/roller.dae"/>
      </geometry>
    </visual>
    <collision>
      <geometry>
        <mesh filename="package://robomaster_om_description/meshes/STL/roller/roller.stl"/>
      </geometry>
    </collision>
    <inertial>
      <origin xyz="0.0 0.0 0.0"/>
      <mass value="0.009"/>
      <inertia ixx="0.000001257" ixy="0" ixz="0" iyy="0.000000342" iyz="0" izz="0.000001257"/>
    </inertial>
    <surface>
      <friction>
        <ode>
          <mu1>1.2</mu1>
          <mu2>1.2</mu2>
          <kp>1e15</kp>
          <kd>1e13</kd>
        </ode>
      </friction>
      <bounce>
        <restitution_coefficient>0.01</restitution_coefficient>
        <threshold>0</threshold>
      </bounce>
      <contact>
        <ode>
          <max_vel>10</max_vel>
        </ode>
      </contact>
    </surface>
  </link>
  <joint name="r15_RF_roller_joint" type="continuous">
    <origin rpy="1.44 -1.1 -0.7854" xyz="0.04237 -0.0143 0.051628"/>
    <parent link="right_front_wheel_link"/>
    <child link="r15_RF_roller_link"/>
    <axis xyz="0 1 0"/>
  </joint>
  <link name="r15_RF_roller_link">
    <visual>
      <geometry>
        <mesh filename="package://robomaster_om_description/meshes/DAE/roller/roller.dae"/>
      </geometry>
    </visual>
    <collision>
      <geometry>
        <mesh filename="package://robomaster_om_description/meshes/STL/roller/roller.stl"/>
      </geometry>
    </collision>
    <inertial>
      <origin xyz="0.0 0.0 0.0"/>
      <mass value="0.009"/>
      <inertia ixx="0.000001257" ixy="0" ixz="0" iyy="0.000000342" iyz="0" izz="0.000001257"/>
    </inertial>
    <surface>
      <friction>
        <ode>
          <mu1>1.2</mu1>
          <mu2>1.2</mu2>
          <kp>1e15</kp>
          <kd>1e13</kd>
        </ode>
      </friction>
      <bounce>
        <restitution_coefficient>0.01</restitution_coefficient>
        <threshold>0</threshold>
      </bounce>
      <contact>
        <ode>
          <max_vel>10</max_vel>
        </ode>
      </contact>
    </surface>
  </link>
  <joint name="r16_RF_roller_joint" type="continuous">
    <origin rpy="1.56 -1.36 -0.7854" xyz="0.019388 -0.0143 0.063912"/>
    <parent link="right_front_wheel_link"/>
    <child link="r16_RF_roller_link"/>
    <axis xyz="0 1 0"/>
  </joint>
  <link name="r16_RF_roller_link">
    <visual>
      <geometry>
        <mesh filename="package://robomaster_om_description/meshes/DAE/roller/roller.dae"/>
      </geometry>
    </visual>
    <collision>
      <geometry>
        <mesh filename="package://robomaster_om_description/meshes/STL/roller/roller.stl"/>
      </geometry>
    </collision>
    <inertial>
      <origin xyz="0.0 0.0 0.0"/>
      <mass value="0.009"/>
      <inertia ixx="0.000001257" ixy="0" ixz="0" iyy="0.000000342" iyz="0" izz="0.000001257"/>
    </inertial>
    <surface>
      <friction>
        <ode>
          <mu1>1.2</mu1>
          <mu2>1.2</mu2>
          <kp>1e15</kp>
          <kd>1e13</kd>
        </ode>
      </friction>
      <bounce>
        <restitution_coefficient>0.01</restitution_coefficient>
        <threshold>0</threshold>
      </bounce>
      <contact>
        <ode>
          <max_vel>10</max_vel>
        </ode>
      </contact>
    </surface>
  </link>
  <joint name="left_front_wheel_joint" type="continuous">
    <origin rpy="0 0 3.14159274" xyz="0.0385 0.1826 -0.0345"/>
    <parent link="base_link"/>
    <child link="left_front_wheel_link"/>
    <limit effort="100" velocity="100"/>
    <axis xyz="0 -1 0"/>
  </joint>
  <link name="left_front_wheel_link">
    <visual>
      <geometry>
        <mesh filename="package://robomaster_om_description/meshes/DAE/wheel/wheel_link.dae"/>
      </geometry>
    </visual>
    <collision>
      <geometry>
        <mesh filename="package://robomaster_om_description/meshes/STL/mecanum_wheel/mecanum_wheel.stl"/>
      </geometry>
    </collision>
    <inertial>
      <origin xyz="0.0 -0.011 -0.0"/>
      <mass value="0.25"/>
      <inertia ixx="0.00031" ixy="0" ixz="0" iyy="0.0005" iyz="0" izz="0.00031"/>
    </inertial>
    <surface>
      <friction>
        <ode>
          <mu1>1.2</mu1>
          <mu2>1.2</mu2>
          <kp>1e15</kp>
          <kd>1e13</kd>
        </ode>
      </friction>
      <bounce>
        <restitution_coefficient>0.01</restitution_coefficient>
        <threshold>0</threshold>
      </bounce>
      <contact>
        <ode>
          <max_vel>10</max_vel>
        </ode>
      </contact>
    </surface>
  </link>
  <joint name="r1_LF_roller_joint" type="continuous">
    <origin rpy="-0.0698 -0.00524 -0.7854" xyz="0.006546 -0.0143 0.066466"/>
    <parent link="left_front_wheel_link"/>
    <child link="r1_LF_roller_link"/>
    <axis xyz="0 1 0"/>
  </joint>
  <link name="r1_LF_roller_link">
    <visual>
      <geometry>
        <mesh filename="package://robomaster_om_description/meshes/DAE/roller/roller.dae"/>
      </geometry>
    </visual>
    <collision>
      <geometry>
        <mesh filename="package://robomaster_om_description/meshes/STL/roller/roller.stl"/>
      </geometry>
    </collision>
    <inertial>
      <origin xyz="0.0 0.0 0.0"/>
      <mass value="0.009"/>
      <inertia ixx="0.000001257" ixy="0" ixz="0" iyy="0.000000342" iyz="0" izz="0.000001257"/>
    </inertial>
    <surface>
      <friction>
        <ode>
          <mu1>1.2</mu1>
          <mu2>1.2</mu2>
          <kp>1e15</kp>
          <kd>1e13</kd>
        </ode>
      </friction>
      <bounce>
        <restitution_coefficient>0.01</restitution_coefficient>
        <threshold>0</threshold>
      </bounce>
      <contact>
        <ode>
          <max_vel>10</max_vel>
        </ode>
      </contact>
    </surface>
  </link>
  <joint name="r2_LF_roller_joint" type="continuous">
    <origin rpy="-1.56 -1.26 0.7854" xyz="0.031483 -0.0143 0.058902"/>
    <parent link="left_front_wheel_link"/>
    <child link="r2_LF_roller_link"/>
    <axis xyz="0 1 0"/>
  </joint>
  <link name="r2_LF_roller_link">
    <visual>
      <geometry>
        <mesh filename="package://robomaster_om_description/meshes/DAE/roller/roller.dae"/>
      </geometry>
    </visual>
    <collision>
      <geometry>
        <mesh filename="package://robomaster_om_description/meshes/STL/roller/roller.stl"/>
      </geometry>
    </collision>
    <inertial>
      <origin xyz="0.0 0.0 0.0"/>
      <mass value="0.009"/>
      <inertia ixx="0.000001257" ixy="0" ixz="0" iyy="0.000000342" iyz="0" izz="0.000001257"/>
    </inertial>
    <surface>
      <friction>
        <ode>
          <mu1>1.2</mu1>
          <mu2>1.2</mu2>
          <kp>1e15</kp>
          <kd>1e13</kd>
        </ode>
      </friction>
      <bounce>
        <restitution_coefficient>0.01</restitution_coefficient>
        <threshold>0</threshold>
      </bounce>
      <contact>
        <ode>
          <max_vel>10</max_vel>
        </ode>
      </contact>
    </surface>
  </link>
  <joint name="r3_LF_roller_joint" type="continuous">
    <origin rpy="-1.36 -1.04 0.7854" xyz="0.051628 -0.0143 0.04237"/>
    <parent link="left_front_wheel_link"/>
    <child link="r3_LF_roller_link"/>
    <axis xyz="0 1 0"/>
  </joint>
  <link name="r3_LF_roller_link">
    <visual>
      <geometry>
        <mesh filename="package://robomaster_om_description/meshes/DAE/roller/roller.dae"/>
      </geometry>
    </visual>
    <collision>
      <geometry>
        <mesh filename="package://robomaster_om_description/meshes/STL/roller/roller.stl"/>
      </geometry>
    </collision>
    <inertial>
      <origin xyz="0.0 0.0 0.0"/>
      <mass value="0.009"/>
      <inertia ixx="0.000001257" ixy="0" ixz="0" iyy="0.000000342" iyz="0" izz="0.000001257"/>
    </inertial>
    <surface>
      <friction>
        <ode>
          <mu1>1.2</mu1>
          <mu2>1.2</mu2>
          <kp>1e15</kp>
          <kd>1e13</kd>
        </ode>
      </friction>
      <bounce>
        <restitution_coefficient>0.01</restitution_coefficient>
        <threshold>0</threshold>
      </bounce>
      <contact>
        <ode>
          <max_vel>10</max_vel>
        </ode>
      </contact>
    </surface>
  </link>
  <joint name="r4_LF_roller_joint" type="continuous">
    <origin rpy="-1.2 -0.76 0.7854" xyz="0.063912 -0.0143 0.019388"/>
    <parent link="left_front_wheel_link"/>
    <child link="r4_LF_roller_link"/>
    <axis xyz="0 1 0"/>
  </joint>
  <link name="r4_LF_roller_link">
    <visual>
      <geometry>
        <mesh filename="package://robomaster_om_description/meshes/DAE/roller/roller.dae"/>
      </geometry>
    </visual>
    <collision>
      <geometry>
        <mesh filename="package://robomaster_om_description/meshes/STL/roller/roller.stl"/>
      </geometry>
    </collision>
    <inertial>
      <origin xyz="0.0 0.0 0.0"/>
      <mass value="0.009"/>
      <inertia ixx="0.000001257" ixy="0" ixz="0" iyy="0.000000342" iyz="0" izz="0.000001257"/>
    </inertial>
    <surface>
      <friction>
        <ode>
          <mu1>1.2</mu1>
          <mu2>1.2</mu2>
          <kp>1e15</kp>
          <kd>1e13</kd>
        </ode>
      </friction>
      <bounce>
        <restitution_coefficient>0.01</restitution_coefficient>
        <threshold>0</threshold>
      </bounce>
      <contact>
        <ode>
          <max_vel>10</max_vel>
        </ode>
      </contact>
    </surface>
  </link>
  <joint name="r5_LF_roller_joint" type="continuous">
    <origin rpy="-1.0 -0.58 0.7854" xyz="0.066466 -0.0143 -0.006546"/>
    <parent link="left_front_wheel_link"/>
    <child link="r5_LF_roller_link"/>
    <axis xyz="0 1 0"/>
  </joint>
  <link name="r5_LF_roller_link">
    <visual>
      <geometry>
        <mesh filename="package://robomaster_om_description/meshes/DAE/roller/roller.dae"/>
      </geometry>
    </visual>
    <collision>
      <geometry>
        <mesh filename="package://robomaster_om_description/meshes/STL/roller/roller.stl"/>
      </geometry>
    </collision>
    <inertial>
      <origin xyz="0.0 0.0 0.0"/>
      <mass value="0.009"/>
      <inertia ixx="0.000001257" ixy="0" ixz="0" iyy="0.000000342" iyz="0" izz="0.000001257"/>
    </inertial>
    <surface>
      <friction>
        <ode>
          <mu1>1.2</mu1>
          <mu2>1.2</mu2>
          <kp>1e15</kp>
          <kd>1e13</kd>
        </ode>
      </friction>
      <bounce>
        <restitution_coefficient>0.01</restitution_coefficient>
        <threshold>0</threshold>
      </bounce>
      <contact>
        <ode>
          <max_vel>10</max_vel>
        </ode>
      </contact>
    </surface>
  </link>
  <joint name="r6_LF_roller_joint" type="continuous">
    <origin rpy="-0.74 -0.48 0.7854" xyz="0.058902 -0.0143 -0.031483"/>
    <parent link="left_front_wheel_link"/>
    <child link="r6_LF_roller_link"/>
    <axis xyz="0 1 0"/>
  </joint>
  <link name="r6_LF_roller_link">
    <visual>
      <geometry>
        <mesh filename="package://robomaster_om_description/meshes/DAE/roller/roller.dae"/>
      </geometry>
    </visual>
    <collision>
      <geometry>
        <mesh filename="package://robomaster_om_description/meshes/STL/roller/roller.stl"/>
      </geometry>
    </collision>
    <inertial>
      <origin xyz="0.0 0.0 0.0"/>
      <mass value="0.009"/>
      <inertia ixx="0.000001257" ixy="0" ixz="0" iyy="0.000000342" iyz="0" izz="0.000001257"/>
    </inertial>
    <surface>
      <friction>
        <ode>
          <mu1>1.2</mu1>
          <mu2>1.2</mu2>
          <kp>1e15</kp>
          <kd>1e13</kd>
        </ode>
      </friction>
      <bounce>
        <restitution_coefficient>0.01</restitution_coefficient>
        <threshold>0</threshold>
      </bounce>
      <contact>
        <ode>
          <max_vel>10</max_vel>
        </ode>
      </contact>
    </surface>
  </link>
  <joint name="r7_LF_roller_joint" type="continuous">
    <origin rpy="-0.51 -0.3194 0.7854" xyz="0.04237 -0.0143 -0.051628"/>
    <parent link="left_front_wheel_link"/>
    <child link="r7_LF_roller_link"/>
    <axis xyz="0 1 0"/>
  </joint>
  <link name="r7_LF_roller_link">
    <visual>
      <geometry>
        <mesh filename="package://robomaster_om_description/meshes/DAE/roller/roller.dae"/>
      </geometry>
    </visual>
    <collision>
      <geometry>
        <mesh filename="package://robomaster_om_description/meshes/STL/roller/roller.stl"/>
      </geometry>
    </collision>
    <inertial>
      <origin xyz="0.0 0.0 0.0"/>
      <mass value="0.009"/>
      <inertia ixx="0.000001257" ixy="0" ixz="0" iyy="0.000000342" iyz="0" izz="0.000001257"/>
    </inertial>
    <surface>
      <friction>
        <ode>
          <mu1>1.2</mu1>
          <mu2>1.2</mu2>
          <kp>1e15</kp>
          <kd>1e13</kd>
        </ode>
      </friction>
      <bounce>
        <restitution_coefficient>0.01</restitution_coefficient>
        <threshold>0</threshold>
      </bounce>
      <contact>
        <ode>
          <max_vel>10</max_vel>
        </ode>
      </contact>
    </surface>
  </link>
  <joint name="r8_LF_roller_joint" type="continuous">
    <origin rpy="-0.2 -0.1117 0.7854" xyz="0.019388 -0.0143 -0.063912"/>
    <parent link="left_front_wheel_link"/>
    <child link="r8_LF_roller_link"/>
    <axis xyz="0 1 0"/>
  </joint>
  <link name="r8_LF_roller_link">
    <visual>
      <geometry>
        <mesh filename="package://robomaster_om_description/meshes/DAE/roller/roller.dae"/>
      </geometry>
    </visual>
    <collision>
      <geometry>
        <mesh filename="package://robomaster_om_description/meshes/STL/roller/roller.stl"/>
      </geometry>
    </collision>
    <inertial>
      <origin xyz="0.0 0.0 0.0"/>
      <mass value="0.009"/>
      <inertia ixx="0.000001257" ixy="0" ixz="0" iyy="0.000000342" iyz="0" izz="0.000001257"/>
    </inertial>
    <surface>
      <friction>
        <ode>
          <mu1>1.2</mu1>
          <mu2>1.2</mu2>
          <kp>1e15</kp>
          <kd>1e13</kd>
        </ode>
      </friction>
      <bounce>
        <restitution_coefficient>0.01</restitution_coefficient>
        <threshold>0</threshold>
      </bounce>
      <contact>
        <ode>
          <max_vel>10</max_vel>
        </ode>
      </contact>
    </surface>
  </link>
  <joint name="r9_LF_roller_joint" type="continuous">
    <origin rpy="0.0698 -0.00524 0.7854" xyz="-0.006546 -0.0143 -0.066466"/>
    <parent link="left_front_wheel_link"/>
    <child link="r9_LF_roller_link"/>
    <axis xyz="0 1 0"/>
  </joint>
  <link name="r9_LF_roller_link">
    <visual>
      <geometry>
        <mesh filename="package://robomaster_om_description/meshes/DAE/roller/roller.dae"/>
      </geometry>
    </visual>
    <collision>
      <geometry>
        <mesh filename="package://robomaster_om_description/meshes/STL/roller/roller.stl"/>
      </geometry>
    </collision>
    <inertial>
      <origin xyz="0.0 0.0 0.0"/>
      <mass value="0.009"/>
      <inertia ixx="0.000001257" ixy="0" ixz="0" iyy="0.000000342" iyz="0" izz="0.000001257"/>
    </inertial>
    <surface>
      <friction>
        <ode>
          <mu1>1.2</mu1>
          <mu2>1.2</mu2>
          <kp>1e15</kp>
          <kd>1e13</kd>
        </ode>
      </friction>
      <bounce>
        <restitution_coefficient>0.01</restitution_coefficient>
        <threshold>0</threshold>
      </bounce>
      <contact>
        <ode>
          <max_vel>10</max_vel>
        </ode>
      </contact>
    </surface>
  </link>
  <joint name="r10_LF_roller_joint" type="continuous">
    <origin rpy="1.56 -1.26 -0.7854" xyz="-0.031483 -0.0143 -0.058902"/>
    <parent link="left_front_wheel_link"/>
    <child link="r10_LF_roller_link"/>
    <axis xyz="0 1 0"/>
  </joint>
  <link name="r10_LF_roller_link">
    <visual>
      <geometry>
        <mesh filename="package://robomaster_om_description/meshes/DAE/roller/roller.dae"/>
      </geometry>
    </visual>
    <collision>
      <geometry>
        <mesh filename="package://robomaster_om_description/meshes/STL/roller/roller.stl"/>
      </geometry>
    </collision>
    <inertial>
      <origin xyz="0.0 0.0 0.0"/>
      <mass value="0.009"/>
      <inertia ixx="0.000001257" ixy="0" ixz="0" iyy="0.000000342" iyz="0" izz="0.000001257"/>
    </inertial>
    <surface>
      <friction>
        <ode>
          <mu1>1.2</mu1>
          <mu2>1.2</mu2>
          <kp>1e15</kp>
          <kd>1e13</kd>
        </ode>
      </friction>
      <bounce>
        <restitution_coefficient>0.01</restitution_coefficient>
        <threshold>0</threshold>
      </bounce>
      <contact>
        <ode>
          <max_vel>10</max_vel>
        </ode>
      </contact>
    </surface>
  </link>
  <joint name="r11_LF_roller_joint" type="continuous">
    <origin rpy="1.36 -1.04 -0.7854" xyz="-0.051628 -0.0143 -0.04237"/>
    <parent link="left_front_wheel_link"/>
    <child link="r11_LF_roller_link"/>
    <axis xyz="0 1 0"/>
  </joint>
  <link name="r11_LF_roller_link">
    <visual>
      <geometry>
        <mesh filename="package://robomaster_om_description/meshes/DAE/roller/roller.dae"/>
      </geometry>
    </visual>
    <collision>
      <geometry>
        <mesh filename="package://robomaster_om_description/meshes/STL/roller/roller.stl"/>
      </geometry>
    </collision>
    <inertial>
      <origin xyz="0.0 0.0 0.0"/>
      <mass value="0.009"/>
      <inertia ixx="0.000001257" ixy="0" ixz="0" iyy="0.000000342" iyz="0" izz="0.000001257"/>
    </inertial>
    <surface>
      <friction>
        <ode>
          <mu1>1.2</mu1>
          <mu2>1.2</mu2>
          <kp>1e15</kp>
          <kd>1e13</kd>
        </ode>
      </friction>
      <bounce>
        <restitution_coefficient>0.01</restitution_coefficient>
        <threshold>0</threshold>
      </bounce>
      <contact>
        <ode>
          <max_vel>10</max_vel>
        </ode>
      </contact>
    </surface>
  </link>
  <joint name="r12_LF_roller_joint" type="continuous">
    <origin rpy="1.2 -0.76 -0.7854" xyz="-0.063912 -0.0143 -0.019388"/>
    <parent link="left_front_wheel_link"/>
    <child link="r12_LF_roller_link"/>
    <axis xyz="0 1 0"/>
  </joint>
  <link name="r12_LF_roller_link">
    <visual>
      <geometry>
        <mesh filename="package://robomaster_om_description/meshes/DAE/roller/roller.dae"/>
      </geometry>
    </visual>
    <collision>
      <geometry>
        <mesh filename="package://robomaster_om_description/meshes/STL/roller/roller.stl"/>
      </geometry>
    </collision>
    <inertial>
      <origin xyz="0.0 0.0 0.0"/>
      <mass value="0.009"/>
      <inertia ixx="0.000001257" ixy="0" ixz="0" iyy="0.000000342" iyz="0" izz="0.000001257"/>
    </inertial>
    <surface>
      <friction>
        <ode>
          <mu1>1.2</mu1>
          <mu2>1.2</mu2>
          <kp>1e15</kp>
          <kd>1e13</kd>
        </ode>
      </friction>
      <bounce>
        <restitution_coefficient>0.01</restitution_coefficient>
        <threshold>0</threshold>
      </bounce>
      <contact>
        <ode>
          <max_vel>10</max_vel>
        </ode>
      </contact>
    </surface>
  </link>
  <joint name="r13_LF_roller_joint" type="continuous">
    <origin rpy="1.0 -0.58 -0.7854" xyz="-0.066466 -0.0143 0.006546"/>
    <parent link="left_front_wheel_link"/>
    <child link="r13_LF_roller_link"/>
    <axis xyz="0 1 0"/>
  </joint>
  <link name="r13_LF_roller_link">
    <visual>
      <geometry>
        <mesh filename="package://robomaster_om_description/meshes/DAE/roller/roller.dae"/>
      </geometry>
    </visual>
    <collision>
      <geometry>
        <mesh filename="package://robomaster_om_description/meshes/STL/roller/roller.stl"/>
      </geometry>
    </collision>
    <inertial>
      <origin xyz="0.0 0.0 0.0"/>
      <mass value="0.009"/>
      <inertia ixx="0.000001257" ixy="0" ixz="0" iyy="0.000000342" iyz="0" izz="0.000001257"/>
    </inertial>
    <surface>
      <friction>
        <ode>
          <mu1>1.2</mu1>
          <mu2>1.2</mu2>
          <kp>1e15</kp>
          <kd>1e13</kd>
        </ode>
      </friction>
      <bounce>
        <restitution_coefficient>0.01</restitution_coefficient>
        <threshold>0</threshold>
      </bounce>
      <contact>
        <ode>
          <max_vel>10</max_vel>
        </ode>
      </contact>
    </surface>
  </link>
  -
  
  <joint name="r14_LF_roller_joint" type="continuous">
    <origin rpy="0.74 -0.48 -0.7854" xyz="-0.058902 -0.0143 0.031483"/>
    <parent link="left_front_wheel_link"/>
    <child link="r14_LF_roller_link"/>
    <axis xyz="0 1 0"/>
  </joint>
  <link name="r14_LF_roller_link">
    <visual>
      <geometry>
        <mesh filename="package://robomaster_om_description/meshes/DAE/roller/roller.dae"/>
      </geometry>
    </visual>
    <collision>
      <geometry>
        <mesh filename="package://robomaster_om_description/meshes/STL/roller/roller.stl"/>
      </geometry>
    </collision>
    <inertial>
      <origin xyz="0.0 0.0 0.0"/>
      <mass value="0.009"/>
      <inertia ixx="0.000001257" ixy="0" ixz="0" iyy="0.000000342" iyz="0" izz="0.000001257"/>
    </inertial>
    <surface>
      <friction>
        <ode>
          <mu1>1.2</mu1>
          <mu2>1.2</mu2>
          <kp>1e15</kp>
          <kd>1e13</kd>
        </ode>
      </friction>
      <bounce>
        <restitution_coefficient>0.01</restitution_coefficient>
        <threshold>0</threshold>
      </bounce>
      <contact>
        <ode>
          <max_vel>10</max_vel>
        </ode>
      </contact>
    </surface>
  </link>
  <joint name="r15_LF_roller_joint" type="continuous">
    <origin rpy="0.51 -0.3194 -0.7854" xyz="-0.04237 -0.0143 0.051628"/>
    <parent link="left_front_wheel_link"/>
    <child link="r15_LF_roller_link"/>
    <axis xyz="0 1 0"/>
  </joint>
  <link name="r15_LF_roller_link">
    <visual>
      <geometry>
        <mesh filename="package://robomaster_om_description/meshes/DAE/roller/roller.dae"/>
      </geometry>
    </visual>
    <collision>
      <geometry>
        <mesh filename="package://robomaster_om_description/meshes/STL/roller/roller.stl"/>
      </geometry>
    </collision>
    <inertial>
      <origin xyz="0.0 0.0 0.0"/>
      <mass value="0.009"/>
      <inertia ixx="0.000001257" ixy="0" ixz="0" iyy="0.000000342" iyz="0" izz="0.000001257"/>
    </inertial>
    <surface>
      <friction>
        <ode>
          <mu1>1.2</mu1>
          <mu2>1.2</mu2>
          <kp>1e15</kp>
          <kd>1e13</kd>
        </ode>
      </friction>
      <bounce>
        <restitution_coefficient>0.01</restitution_coefficient>
        <threshold>0</threshold>
      </bounce>
      <contact>
        <ode>
          <max_vel>10</max_vel>
        </ode>
      </contact>
    </surface>
  </link>
  <joint name="r16_LF_roller_joint" type="continuous">
    <origin rpy="0.2 -0.1117 -0.7854" xyz="-0.019388 -0.0143 0.063912"/>
    <parent link="left_front_wheel_link"/>
    <child link="r16_LF_roller_link"/>
    <axis xyz="0 1 0"/>
  </joint>
  <link name="r16_LF_roller_link">
    <visual>
      <geometry>
        <mesh filename="package://robomaster_om_description/meshes/DAE/roller/roller.dae"/>
      </geometry>
    </visual>
    <collision>
      <geometry>
        <mesh filename="package://robomaster_om_description/meshes/STL/roller/roller.stl"/>
      </geometry>
    </collision>
    <inertial>
      <origin xyz="0.0 0.0 0.0"/>
      <mass value="0.009"/>
      <inertia ixx="0.000001257" ixy="0" ixz="0" iyy="0.000000342" iyz="0" izz="0.000001257"/>
    </inertial>
    <surface>
      <friction>
        <ode>
          <mu1>1.2</mu1>
          <mu2>1.2</mu2>
          <kp>1e15</kp>
          <kd>1e13</kd>
        </ode>
      </friction>
      <bounce>
        <restitution_coefficient>0.01</restitution_coefficient>
        <threshold>0</threshold>
      </bounce>
      <contact>
        <ode>
          <max_vel>10</max_vel>
        </ode>
      </contact>
    </surface>
  </link>
  <joint name="right_rear_wheel_joint" type="continuous">
    <origin xyz="-0.3765 -0.1826 -0.0345"/>
    <parent link="base_link"/>
    <child link="right_rear_wheel_link"/>
    <limit effort="100" velocity="100"/>
    <axis xyz="0 1 0"/>
  </joint>
  <link name="right_rear_wheel_link">
    <visual>
      <geometry>
        <mesh filename="package://robomaster_om_description/meshes/DAE/wheel/wheel_link.dae"/>
      </geometry>
    </visual>
    <collision>
      <geometry>
        <mesh filename="package://robomaster_om_description/meshes/STL/mecanum_wheel/mecanum_wheel.stl"/>
      </geometry>
    </collision>
    <inertial>
      <origin xyz="0.0 -0.011 -0.0"/>
      <mass value="0.25"/>
      <inertia ixx="0.00031" ixy="0" ixz="0" iyy="0.0005" iyz="0" izz="0.00031"/>
    </inertial>
    <surface>
      <friction>
        <ode>
          <mu1>1.2</mu1>
          <mu2>1.2</mu2>
          <kp>1e15</kp>
          <kd>1e13</kd>
        </ode>
      </friction>
      <bounce>
        <restitution_coefficient>0.01</restitution_coefficient>
        <threshold>0</threshold>
      </bounce>
      <contact>
        <ode>
          <max_vel>10</max_vel>
        </ode>
      </contact>
    </surface>
  </link>
  <joint name="r1_RR_roller_joint" type="continuous">
    <origin rpy="-0.0698 -0.00524 -0.7854" xyz="0.006546 -0.0143 0.066466"/>
    <parent link="right_rear_wheel_link"/>
    <child link="r1_RR_roller_link"/>
    <axis xyz="0 1 0"/>
  </joint>
  <link name="r1_RR_roller_link">
    <visual>
      <geometry>
        <mesh filename="package://robomaster_om_description/meshes/DAE/roller/roller.dae"/>
      </geometry>
    </visual>
    <collision>
      <geometry>
        <mesh filename="package://robomaster_om_description/meshes/STL/roller/roller.stl"/>
      </geometry>
    </collision>
    <inertial>
      <origin xyz="0.0 0.0 0.0"/>
      <mass value="0.009"/>
      <inertia ixx="0.000001257" ixy="0" ixz="0" iyy="0.000000342" iyz="0" izz="0.000001257"/>
    </inertial>
    <surface>
      <friction>
        <ode>
          <mu1>1.2</mu1>
          <mu2>1.2</mu2>
          <kp>1e15</kp>
          <kd>1e13</kd>
        </ode>
      </friction>
      <bounce>
        <restitution_coefficient>0.01</restitution_coefficient>
        <threshold>0</threshold>
      </bounce>
      <contact>
        <ode>
          <max_vel>10</max_vel>
        </ode>
      </contact>
    </surface>
  </link>
  <joint name="r2_RR_roller_joint" type="continuous">
    <origin rpy="-1.56 -1.26 0.7854" xyz="0.031483 -0.0143 0.058902"/>
    <parent link="right_rear_wheel_link"/>
    <child link="r2_RR_roller_link"/>
    <axis xyz="0 1 0"/>
  </joint>
  <link name="r2_RR_roller_link">
    <visual>
      <geometry>
        <mesh filename="package://robomaster_om_description/meshes/DAE/roller/roller.dae"/>
      </geometry>
    </visual>
    <collision>
      <geometry>
        <mesh filename="package://robomaster_om_description/meshes/STL/roller/roller.stl"/>
      </geometry>
    </collision>
    <inertial>
      <origin xyz="0.0 0.0 0.0"/>
      <mass value="0.009"/>
      <inertia ixx="0.000001257" ixy="0" ixz="0" iyy="0.000000342" iyz="0" izz="0.000001257"/>
    </inertial>
    <surface>
      <friction>
        <ode>
          <mu1>1.2</mu1>
          <mu2>1.2</mu2>
          <kp>1e15</kp>
          <kd>1e13</kd>
        </ode>
      </friction>
      <bounce>
        <restitution_coefficient>0.01</restitution_coefficient>
        <threshold>0</threshold>
      </bounce>
      <contact>
        <ode>
          <max_vel>10</max_vel>
        </ode>
      </contact>
    </surface>
  </link>
  <joint name="r3_RR_roller_joint" type="continuous">
    <origin rpy="-1.36 -1.04 0.7854" xyz="0.051628 -0.0143 0.04237"/>
    <parent link="right_rear_wheel_link"/>
    <child link="r3_RR_roller_link"/>
    <axis xyz="0 1 0"/>
  </joint>
  <link name="r3_RR_roller_link">
    <visual>
      <geometry>
        <mesh filename="package://robomaster_om_description/meshes/DAE/roller/roller.dae"/>
      </geometry>
    </visual>
    <collision>
      <geometry>
        <mesh filename="package://robomaster_om_description/meshes/STL/roller/roller.stl"/>
      </geometry>
    </collision>
    <inertial>
      <origin xyz="0.0 0.0 0.0"/>
      <mass value="0.009"/>
      <inertia ixx="0.000001257" ixy="0" ixz="0" iyy="0.000000342" iyz="0" izz="0.000001257"/>
    </inertial>
    <surface>
      <friction>
        <ode>
          <mu1>1.2</mu1>
          <mu2>1.2</mu2>
          <kp>1e15</kp>
          <kd>1e13</kd>
        </ode>
      </friction>
      <bounce>
        <restitution_coefficient>0.01</restitution_coefficient>
        <threshold>0</threshold>
      </bounce>
      <contact>
        <ode>
          <max_vel>10</max_vel>
        </ode>
      </contact>
    </surface>
  </link>
  <joint name="r4_RR_roller_joint" type="continuous">
    <origin rpy="-1.2 -0.76 0.7854" xyz="0.063912 -0.0143 0.019388"/>
    <parent link="right_rear_wheel_link"/>
    <child link="r4_RR_roller_link"/>
    <axis xyz="0 1 0"/>
  </joint>
  <link name="r4_RR_roller_link">
    <visual>
      <geometry>
        <mesh filename="package://robomaster_om_description/meshes/DAE/roller/roller.dae"/>
      </geometry>
    </visual>
    <collision>
      <geometry>
        <mesh filename="package://robomaster_om_description/meshes/STL/roller/roller.stl"/>
      </geometry>
    </collision>
    <inertial>
      <origin xyz="0.0 0.0 0.0"/>
      <mass value="0.009"/>
      <inertia ixx="0.000001257" ixy="0" ixz="0" iyy="0.000000342" iyz="0" izz="0.000001257"/>
    </inertial>
    <surface>
      <friction>
        <ode>
          <mu1>1.2</mu1>
          <mu2>1.2</mu2>
          <kp>1e15</kp>
          <kd>1e13</kd>
        </ode>
      </friction>
      <bounce>
        <restitution_coefficient>0.01</restitution_coefficient>
        <threshold>0</threshold>
      </bounce>
      <contact>
        <ode>
          <max_vel>10</max_vel>
        </ode>
      </contact>
    </surface>
  </link>
  <joint name="r5_RR_roller_joint" type="continuous">
    <origin rpy="-1.0 -0.58 0.7854" xyz="0.066466 -0.0143 -0.006546"/>
    <parent link="right_rear_wheel_link"/>
    <child link="r5_RR_roller_link"/>
    <axis xyz="0 1 0"/>
  </joint>
  <link name="r5_RR_roller_link">
    <visual>
      <geometry>
        <mesh filename="package://robomaster_om_description/meshes/DAE/roller/roller.dae"/>
      </geometry>
    </visual>
    <collision>
      <geometry>
        <mesh filename="package://robomaster_om_description/meshes/STL/roller/roller.stl"/>
      </geometry>
    </collision>
    <inertial>
      <origin xyz="0.0 0.0 0.0"/>
      <mass value="0.009"/>
      <inertia ixx="0.000001257" ixy="0" ixz="0" iyy="0.000000342" iyz="0" izz="0.000001257"/>
    </inertial>
    <surface>
      <friction>
        <ode>
          <mu1>1.2</mu1>
          <mu2>1.2</mu2>
          <kp>1e15</kp>
          <kd>1e13</kd>
        </ode>
      </friction>
      <bounce>
        <restitution_coefficient>0.01</restitution_coefficient>
        <threshold>0</threshold>
      </bounce>
      <contact>
        <ode>
          <max_vel>10</max_vel>
        </ode>
      </contact>
    </surface>
  </link>
  <joint name="r6_RR_roller_joint" type="continuous">
    <origin rpy="-0.74 -0.48 0.7854" xyz="0.058902 -0.0143 -0.031483"/>
    <parent link="right_rear_wheel_link"/>
    <child link="r6_RR_roller_link"/>
    <axis xyz="0 1 0"/>
  </joint>
  <link name="r6_RR_roller_link">
    <visual>
      <geometry>
        <mesh filename="package://robomaster_om_description/meshes/DAE/roller/roller.dae"/>
      </geometry>
    </visual>
    <collision>
      <geometry>
        <mesh filename="package://robomaster_om_description/meshes/STL/roller/roller.stl"/>
      </geometry>
    </collision>
    <inertial>
      <origin xyz="0.0 0.0 0.0"/>
      <mass value="0.009"/>
      <inertia ixx="0.000001257" ixy="0" ixz="0" iyy="0.000000342" iyz="0" izz="0.000001257"/>
    </inertial>
    <surface>
      <friction>
        <ode>
          <mu1>1.2</mu1>
          <mu2>1.2</mu2>
          <kp>1e15</kp>
          <kd>1e13</kd>
        </ode>
      </friction>
      <bounce>
        <restitution_coefficient>0.01</restitution_coefficient>
        <threshold>0</threshold>
      </bounce>
      <contact>
        <ode>
          <max_vel>10</max_vel>
        </ode>
      </contact>
    </surface>
  </link>
  <joint name="r7_RR_roller_joint" type="continuous">
    <origin rpy="-0.51 -0.3194 0.7854" xyz="0.04237 -0.0143 -0.051628"/>
    <parent link="right_rear_wheel_link"/>
    <child link="r7_RR_roller_link"/>
    <axis xyz="0 1 0"/>
  </joint>
  <link name="r7_RR_roller_link">
    <visual>
      <geometry>
        <mesh filename="package://robomaster_om_description/meshes/DAE/roller/roller.dae"/>
      </geometry>
    </visual>
    <collision>
      <geometry>
        <mesh filename="package://robomaster_om_description/meshes/STL/roller/roller.stl"/>
      </geometry>
    </collision>
    <inertial>
      <origin xyz="0.0 0.0 0.0"/>
      <mass value="0.009"/>
      <inertia ixx="0.000001257" ixy="0" ixz="0" iyy="0.000000342" iyz="0" izz="0.000001257"/>
    </inertial>
    <surface>
      <friction>
        <ode>
          <mu1>1.2</mu1>
          <mu2>1.2</mu2>
          <kp>1e15</kp>
          <kd>1e13</kd>
        </ode>
      </friction>
      <bounce>
        <restitution_coefficient>0.01</restitution_coefficient>
        <threshold>0</threshold>
      </bounce>
      <contact>
        <ode>
          <max_vel>10</max_vel>
        </ode>
      </contact>
    </surface>
  </link>
  <joint name="r8_RR_roller_joint" type="continuous">
    <origin rpy="-0.2 -0.1117 0.7854" xyz="0.019388 -0.0143 -0.063912"/>
    <parent link="right_rear_wheel_link"/>
    <child link="r8_RR_roller_link"/>
    <axis xyz="0 1 0"/>
  </joint>
  <link name="r8_RR_roller_link">
    <visual>
      <geometry>
        <mesh filename="package://robomaster_om_description/meshes/DAE/roller/roller.dae"/>
      </geometry>
    </visual>
    <collision>
      <geometry>
        <mesh filename="package://robomaster_om_description/meshes/STL/roller/roller.stl"/>
      </geometry>
    </collision>
    <inertial>
      <origin xyz="0.0 0.0 0.0"/>
      <mass value="0.009"/>
      <inertia ixx="0.000001257" ixy="0" ixz="0" iyy="0.000000342" iyz="0" izz="0.000001257"/>
    </inertial>
    <surface>
      <friction>
        <ode>
          <mu1>1.2</mu1>
          <mu2>1.2</mu2>
          <kp>1e15</kp>
          <kd>1e13</kd>
        </ode>
      </friction>
      <bounce>
        <restitution_coefficient>0.01</restitution_coefficient>
        <threshold>0</threshold>
      </bounce>
      <contact>
        <ode>
          <max_vel>10</max_vel>
        </ode>
      </contact>
    </surface>
  </link>
  <joint name="r9_RR_roller_joint" type="continuous">
    <origin rpy="0.0698 -0.00524 0.7854" xyz="-0.006546 -0.0143 -0.066466"/>
    <parent link="right_rear_wheel_link"/>
    <child link="r9_RR_roller_link"/>
    <axis xyz="0 1 0"/>
  </joint>
  <link name="r9_RR_roller_link">
    <visual>
      <geometry>
        <mesh filename="package://robomaster_om_description/meshes/DAE/roller/roller.dae"/>
      </geometry>
    </visual>
    <collision>
      <geometry>
        <mesh filename="package://robomaster_om_description/meshes/STL/roller/roller.stl"/>
      </geometry>
    </collision>
    <inertial>
      <origin xyz="0.0 0.0 0.0"/>
      <mass value="0.009"/>
      <inertia ixx="0.000001257" ixy="0" ixz="0" iyy="0.000000342" iyz="0" izz="0.000001257"/>
    </inertial>
    <surface>
      <friction>
        <ode>
          <mu1>1.2</mu1>
          <mu2>1.2</mu2>
          <kp>1e15</kp>
          <kd>1e13</kd>
        </ode>
      </friction>
      <bounce>
        <restitution_coefficient>0.01</restitution_coefficient>
        <threshold>0</threshold>
      </bounce>
      <contact>
        <ode>
          <max_vel>10</max_vel>
        </ode>
      </contact>
    </surface>
  </link>
  <joint name="r10_RR_roller_joint" type="continuous">
    <origin rpy="1.56 -1.26 -0.7854" xyz="-0.031483 -0.0143 -0.058902"/>
    <parent link="right_rear_wheel_link"/>
    <child link="r10_RR_roller_link"/>
    <axis xyz="0 1 0"/>
  </joint>
  <link name="r10_RR_roller_link">
    <visual>
      <geometry>
        <mesh filename="package://robomaster_om_description/meshes/DAE/roller/roller.dae"/>
      </geometry>
    </visual>
    <collision>
      <geometry>
        <mesh filename="package://robomaster_om_description/meshes/STL/roller/roller.stl"/>
      </geometry>
    </collision>
    <inertial>
      <origin xyz="0.0 0.0 0.0"/>
      <mass value="0.009"/>
      <inertia ixx="0.000001257" ixy="0" ixz="0" iyy="0.000000342" iyz="0" izz="0.000001257"/>
    </inertial>
    <surface>
      <friction>
        <ode>
          <mu1>1.2</mu1>
          <mu2>1.2</mu2>
          <kp>1e15</kp>
          <kd>1e13</kd>
        </ode>
      </friction>
      <bounce>
        <restitution_coefficient>0.01</restitution_coefficient>
        <threshold>0</threshold>
      </bounce>
      <contact>
        <ode>
          <max_vel>10</max_vel>
        </ode>
      </contact>
    </surface>
  </link>
  <joint name="r11_RR_roller_joint" type="continuous">
    <origin rpy="1.36 -1.04 -0.7854" xyz="-0.051628 -0.0143 -0.04237"/>
    <parent link="right_rear_wheel_link"/>
    <child link="r11_RR_roller_link"/>
    <axis xyz="0 1 0"/>
  </joint>
  <link name="r11_RR_roller_link">
    <visual>
      <geometry>
        <mesh filename="package://robomaster_om_description/meshes/DAE/roller/roller.dae"/>
      </geometry>
    </visual>
    <collision>
      <geometry>
        <mesh filename="package://robomaster_om_description/meshes/STL/roller/roller.stl"/>
      </geometry>
    </collision>
    <inertial>
      <origin xyz="0.0 0.0 0.0"/>
      <mass value="0.009"/>
      <inertia ixx="0.000001257" ixy="0" ixz="0" iyy="0.000000342" iyz="0" izz="0.000001257"/>
    </inertial>
    <surface>
      <friction>
        <ode>
          <mu1>1.2</mu1>
          <mu2>1.2</mu2>
          <kp>1e15</kp>
          <kd>1e13</kd>
        </ode>
      </friction>
      <bounce>
        <restitution_coefficient>0.01</restitution_coefficient>
        <threshold>0</threshold>
      </bounce>
      <contact>
        <ode>
          <max_vel>10</max_vel>
        </ode>
      </contact>
    </surface>
  </link>
  <joint name="r12_RR_roller_joint" type="continuous">
    <origin rpy="1.2 -0.76 -0.7854" xyz="-0.063912 -0.0143 -0.019388"/>
    <parent link="right_rear_wheel_link"/>
    <child link="r12_RR_roller_link"/>
    <axis xyz="0 1 0"/>
  </joint>
  <link name="r12_RR_roller_link">
    <visual>
      <geometry>
        <mesh filename="package://robomaster_om_description/meshes/DAE/roller/roller.dae"/>
      </geometry>
    </visual>
    <collision>
      <geometry>
        <mesh filename="package://robomaster_om_description/meshes/STL/roller/roller.stl"/>
      </geometry>
    </collision>
    <inertial>
      <origin xyz="0.0 0.0 0.0"/>
      <mass value="0.009"/>
      <inertia ixx="0.000001257" ixy="0" ixz="0" iyy="0.000000342" iyz="0" izz="0.000001257"/>
    </inertial>
    <surface>
      <friction>
        <ode>
          <mu1>1.2</mu1>
          <mu2>1.2</mu2>
          <kp>1e15</kp>
          <kd>1e13</kd>
        </ode>
      </friction>
      <bounce>
        <restitution_coefficient>0.01</restitution_coefficient>
        <threshold>0</threshold>
      </bounce>
      <contact>
        <ode>
          <max_vel>10</max_vel>
        </ode>
      </contact>
    </surface>
  </link>
  <joint name="r13_RR_roller_joint" type="continuous">
    <origin rpy="1.0 -0.58 -0.7854" xyz="-0.066466 -0.0143 0.006546"/>
    <parent link="right_rear_wheel_link"/>
    <child link="r13_RR_roller_link"/>
    <axis xyz="0 1 0"/>
  </joint>
  <link name="r13_RR_roller_link">
    <visual>
      <geometry>
        <mesh filename="package://robomaster_om_description/meshes/DAE/roller/roller.dae"/>
      </geometry>
    </visual>
    <collision>
      <geometry>
        <mesh filename="package://robomaster_om_description/meshes/STL/roller/roller.stl"/>
      </geometry>
    </collision>
    <inertial>
      <origin xyz="0.0 0.0 0.0"/>
      <mass value="0.009"/>
      <inertia ixx="0.000001257" ixy="0" ixz="0" iyy="0.000000342" iyz="0" izz="0.000001257"/>
    </inertial>
    <surface>
      <friction>
        <ode>
          <mu1>1.2</mu1>
          <mu2>1.2</mu2>
          <kp>1e15</kp>
          <kd>1e13</kd>
        </ode>
      </friction>
      <bounce>
        <restitution_coefficient>0.01</restitution_coefficient>
        <threshold>0</threshold>
      </bounce>
      <contact>
        <ode>
          <max_vel>10</max_vel>
        </ode>
      </contact>
    </surface>
  </link>
  -
  
  <joint name="r14_RR_roller_joint" type="continuous">
    <origin rpy="0.74 -0.48 -0.7854" xyz="-0.058902 -0.0143 0.031483"/>
    <parent link="right_rear_wheel_link"/>
    <child link="r14_RR_roller_link"/>
    <axis xyz="0 1 0"/>
  </joint>
  <link name="r14_RR_roller_link">
    <visual>
      <geometry>
        <mesh filename="package://robomaster_om_description/meshes/DAE/roller/roller.dae"/>
      </geometry>
    </visual>
    <collision>
      <geometry>
        <mesh filename="package://robomaster_om_description/meshes/STL/roller/roller.stl"/>
      </geometry>
    </collision>
    <inertial>
      <origin xyz="0.0 0.0 0.0"/>
      <mass value="0.009"/>
      <inertia ixx="0.000001257" ixy="0" ixz="0" iyy="0.000000342" iyz="0" izz="0.000001257"/>
    </inertial>
    <surface>
      <friction>
        <ode>
          <mu1>1.2</mu1>
          <mu2>1.2</mu2>
          <kp>1e15</kp>
          <kd>1e13</kd>
        </ode>
      </friction>
      <bounce>
        <restitution_coefficient>0.01</restitution_coefficient>
        <threshold>0</threshold>
      </bounce>
      <contact>
        <ode>
          <max_vel>10</max_vel>
        </ode>
      </contact>
    </surface>
  </link>
  <joint name="r15_RR_roller_joint" type="continuous">
    <origin rpy="0.51 -0.3194 -0.7854" xyz="-0.04237 -0.0143 0.051628"/>
    <parent link="right_rear_wheel_link"/>
    <child link="r15_RR_roller_link"/>
    <axis xyz="0 1 0"/>
  </joint>
  <link name="r15_RR_roller_link">
    <visual>
      <geometry>
        <mesh filename="package://robomaster_om_description/meshes/DAE/roller/roller.dae"/>
      </geometry>
    </visual>
    <collision>
      <geometry>
        <mesh filename="package://robomaster_om_description/meshes/STL/roller/roller.stl"/>
      </geometry>
    </collision>
    <inertial>
      <origin xyz="0.0 0.0 0.0"/>
      <mass value="0.009"/>
      <inertia ixx="0.000001257" ixy="0" ixz="0" iyy="0.000000342" iyz="0" izz="0.000001257"/>
    </inertial>
    <surface>
      <friction>
        <ode>
          <mu1>1.2</mu1>
          <mu2>1.2</mu2>
          <kp>1e15</kp>
          <kd>1e13</kd>
        </ode>
      </friction>
      <bounce>
        <restitution_coefficient>0.01</restitution_coefficient>
        <threshold>0</threshold>
      </bounce>
      <contact>
        <ode>
          <max_vel>10</max_vel>
        </ode>
      </contact>
    </surface>
  </link>
  <joint name="r16_RR_roller_joint" type="continuous">
    <origin rpy="0.2 -0.1117 -0.7854" xyz="-0.019388 -0.0143 0.063912"/>
    <parent link="right_rear_wheel_link"/>
    <child link="r16_RR_roller_link"/>
    <axis xyz="0 1 0"/>
  </joint>
  <link name="r16_RR_roller_link">
    <visual>
      <geometry>
        <mesh filename="package://robomaster_om_description/meshes/DAE/roller/roller.dae"/>
      </geometry>
    </visual>
    <collision>
      <geometry>
        <mesh filename="package://robomaster_om_description/meshes/STL/roller/roller.stl"/>
      </geometry>
    </collision>
    <inertial>
      <origin xyz="0.0 0.0 0.0"/>
      <mass value="0.009"/>
      <inertia ixx="0.000001257" ixy="0" ixz="0" iyy="0.000000342" iyz="0" izz="0.000001257"/>
    </inertial>
    <surface>
      <friction>
        <ode>
          <mu1>1.2</mu1>
          <mu2>1.2</mu2>
          <kp>1e15</kp>
          <kd>1e13</kd>
        </ode>
      </friction>
      <bounce>
        <restitution_coefficient>0.01</restitution_coefficient>
        <threshold>0</threshold>
      </bounce>
      <contact>
        <ode>
          <max_vel>10</max_vel>
        </ode>
      </contact>
    </surface>
  </link>
  <joint name="left_rear_wheel_joint" type="continuous">
    <origin rpy="0 0 3.14159274" xyz="-0.3765 0.1826 -0.0345"/>
    <parent link="base_link"/>
    <child link="left_rear_wheel_link"/>
    <limit effort="100" velocity="100"/>
    <axis xyz="0 -1 0"/>
  </joint>
  <link name="left_rear_wheel_link">
    <visual>
      <geometry>
        <mesh filename="package://robomaster_om_description/meshes/DAE/wheel/wheel_link.dae"/>
      </geometry>
    </visual>
    <collision>
      <geometry>
        <mesh filename="package://robomaster_om_description/meshes/STL/mecanum_wheel/mecanum_wheel.stl"/>
      </geometry>
    </collision>
    <inertial>
      <origin xyz="0.0 -0.011 -0.0"/>
      <mass value="0.25"/>
      <inertia ixx="0.00031" ixy="0" ixz="0" iyy="0.0005" iyz="0" izz="0.00031"/>
    </inertial>
    <surface>
      <friction>
        <ode>
          <mu1>1.2</mu1>
          <mu2>1.2</mu2>
          <kp>1e15</kp>
          <kd>1e13</kd>
        </ode>
      </friction>
      <bounce>
        <restitution_coefficient>0.01</restitution_coefficient>
        <threshold>0</threshold>
      </bounce>
      <contact>
        <ode>
          <max_vel>10</max_vel>
        </ode>
      </contact>
    </surface>
  </link>
  <joint name="r1_LR_roller_joint" type="continuous">
    <origin rpy="-0.0698 -0.00524 0.7854" xyz="-0.006546 -0.0143 0.066466"/>
    <parent link="left_rear_wheel_link"/>
    <child link="r1_LR_roller_link"/>
    <axis xyz="0 1 0"/>
  </joint>
  <link name="r1_LR_roller_link">
    <visual>
      <geometry>
        <mesh filename="package://robomaster_om_description/meshes/DAE/roller/roller.dae"/>
      </geometry>
    </visual>
    <collision>
      <geometry>
        <mesh filename="package://robomaster_om_description/meshes/STL/roller/roller.stl"/>
      </geometry>
    </collision>
    <inertial>
      <origin xyz="0.0 0.0 0.0"/>
      <mass value="0.009"/>
      <inertia ixx="0.000001257" ixy="0" ixz="0" iyy="0.000000342" iyz="0" izz="0.000001257"/>
    </inertial>
    <surface>
      <friction>
        <ode>
          <mu1>1.2</mu1>
          <mu2>1.2</mu2>
          <kp>1e15</kp>
          <kd>1e13</kd>
        </ode>
      </friction>
      <bounce>
        <restitution_coefficient>0.01</restitution_coefficient>
        <threshold>0</threshold>
      </bounce>
      <contact>
        <ode>
          <max_vel>10</max_vel>
        </ode>
      </contact>
    </surface>
  </link>
  <joint name="r2_LR_roller_joint" type="continuous">
    <origin rpy="-0.342 -0.1117 0.7854" xyz="-0.031483 -0.0143 0.058902"/>
    <parent link="left_rear_wheel_link"/>
    <child link="r2_LR_roller_link"/>
    <axis xyz="0 1 0"/>
  </joint>
  <link name="r2_LR_roller_link">
    <visual>
      <geometry>
        <mesh filename="package://robomaster_om_description/meshes/DAE/roller/roller.dae"/>
      </geometry>
    </visual>
    <collision>
      <geometry>
        <mesh filename="package://robomaster_om_description/meshes/STL/roller/roller.stl"/>
      </geometry>
    </collision>
    <inertial>
      <origin xyz="0.0 0.0 0.0"/>
      <mass value="0.009"/>
      <inertia ixx="0.000001257" ixy="0" ixz="0" iyy="0.000000342" iyz="0" izz="0.000001257"/>
    </inertial>
    <surface>
      <friction>
        <ode>
          <mu1>1.2</mu1>
          <mu2>1.2</mu2>
          <kp>1e15</kp>
          <kd>1e13</kd>
        </ode>
      </friction>
      <bounce>
        <restitution_coefficient>0.01</restitution_coefficient>
        <threshold>0</threshold>
      </bounce>
      <contact>
        <ode>
          <max_vel>10</max_vel>
        </ode>
      </contact>
    </surface>
  </link>
  <joint name="r3_LR_roller_joint" type="continuous">
    <origin rpy="-0.5777 -0.3194 0.7854" xyz="-0.051628 -0.0143 0.04237"/>
    <parent link="left_rear_wheel_link"/>
    <child link="r3_LR_roller_link"/>
    <axis xyz="0 1 0"/>
  </joint>
  <link name="r3_LR_roller_link">
    <visual>
      <geometry>
        <mesh filename="package://robomaster_om_description/meshes/DAE/roller/roller.dae"/>
      </geometry>
    </visual>
    <collision>
      <geometry>
        <mesh filename="package://robomaster_om_description/meshes/STL/roller/roller.stl"/>
      </geometry>
    </collision>
    <inertial>
      <origin xyz="0.0 0.0 0.0"/>
      <mass value="0.009"/>
      <inertia ixx="0.000001257" ixy="0" ixz="0" iyy="0.000000342" iyz="0" izz="0.000001257"/>
    </inertial>
    <surface>
      <friction>
        <ode>
          <mu1>1.2</mu1>
          <mu2>1.2</mu2>
          <kp>1e15</kp>
          <kd>1e13</kd>
        </ode>
      </friction>
      <bounce>
        <restitution_coefficient>0.01</restitution_coefficient>
        <threshold>0</threshold>
      </bounce>
      <contact>
        <ode>
          <max_vel>10</max_vel>
        </ode>
      </contact>
    </surface>
  </link>
  <joint name="r4_LR_roller_joint" type="continuous">
    <origin rpy="-0.82 -0.52 0.7854" xyz="-0.063912 -0.0143 0.019388"/>
    <parent link="left_rear_wheel_link"/>
    <child link="r4_LR_roller_link"/>
    <axis xyz="0 1 0"/>
  </joint>
  <link name="r4_LR_roller_link">
    <visual>
      <geometry>
        <mesh filename="package://robomaster_om_description/meshes/DAE/roller/roller.dae"/>
      </geometry>
    </visual>
    <collision>
      <geometry>
        <mesh filename="package://robomaster_om_description/meshes/STL/roller/roller.stl"/>
      </geometry>
    </collision>
    <inertial>
      <origin xyz="0.0 0.0 0.0"/>
      <mass value="0.009"/>
      <inertia ixx="0.000001257" ixy="0" ixz="0" iyy="0.000000342" iyz="0" izz="0.000001257"/>
    </inertial>
    <surface>
      <friction>
        <ode>
          <mu1>1.2</mu1>
          <mu2>1.2</mu2>
          <kp>1e15</kp>
          <kd>1e13</kd>
        </ode>
      </friction>
      <bounce>
        <restitution_coefficient>0.01</restitution_coefficient>
        <threshold>0</threshold>
      </bounce>
      <contact>
        <ode>
          <max_vel>10</max_vel>
        </ode>
      </contact>
    </surface>
  </link>
  <joint name="r5_LR_roller_joint" type="continuous">
    <origin rpy="-1.08 -0.62 0.7854" xyz="-0.066466 -0.0143 -0.006546"/>
    <parent link="left_rear_wheel_link"/>
    <child link="r5_LR_roller_link"/>
    <axis xyz="0 1 0"/>
  </joint>
  <link name="r5_LR_roller_link">
    <visual>
      <geometry>
        <mesh filename="package://robomaster_om_description/meshes/DAE/roller/roller.dae"/>
      </geometry>
    </visual>
    <collision>
      <geometry>
        <mesh filename="package://robomaster_om_description/meshes/STL/roller/roller.stl"/>
      </geometry>
    </collision>
    <inertial>
      <origin xyz="0.0 0.0 0.0"/>
      <mass value="0.009"/>
      <inertia ixx="0.000001257" ixy="0" ixz="0" iyy="0.000000342" iyz="0" izz="0.000001257"/>
    </inertial>
    <surface>
      <friction>
        <ode>
          <mu1>1.2</mu1>
          <mu2>1.2</mu2>
          <kp>1e15</kp>
          <kd>1e13</kd>
        </ode>
      </friction>
      <bounce>
        <restitution_coefficient>0.01</restitution_coefficient>
        <threshold>0</threshold>
      </bounce>
      <contact>
        <ode>
          <max_vel>10</max_vel>
        </ode>
      </contact>
    </surface>
  </link>
  <joint name="r6_LR_roller_joint" type="continuous">
    <origin rpy="-1.28 -0.82 0.7854" xyz="-0.058902 -0.0143 -0.031483"/>
    <parent link="left_rear_wheel_link"/>
    <child link="r6_LR_roller_link"/>
    <axis xyz="0 1 0"/>
  </joint>
  <link name="r6_LR_roller_link">
    <visual>
      <geometry>
        <mesh filename="package://robomaster_om_description/meshes/DAE/roller/roller.dae"/>
      </geometry>
    </visual>
    <collision>
      <geometry>
        <mesh filename="package://robomaster_om_description/meshes/STL/roller/roller.stl"/>
      </geometry>
    </collision>
    <inertial>
      <origin xyz="0.0 0.0 0.0"/>
      <mass value="0.009"/>
      <inertia ixx="0.000001257" ixy="0" ixz="0" iyy="0.000000342" iyz="0" izz="0.000001257"/>
    </inertial>
    <surface>
      <friction>
        <ode>
          <mu1>1.2</mu1>
          <mu2>1.2</mu2>
          <kp>1e15</kp>
          <kd>1e13</kd>
        </ode>
      </friction>
      <bounce>
        <restitution_coefficient>0.01</restitution_coefficient>
        <threshold>0</threshold>
      </bounce>
      <contact>
        <ode>
          <max_vel>10</max_vel>
        </ode>
      </contact>
    </surface>
  </link>
  <joint name="r7_LR_roller_joint" type="continuous">
    <origin rpy="-1.44 -1.1 0.7854" xyz="-0.04237 -0.0143 -0.051628"/>
    <parent link="left_rear_wheel_link"/>
    <child link="r7_LR_roller_link"/>
    <axis xyz="0 1 0"/>
  </joint>
  <link name="r7_LR_roller_link">
    <visual>
      <geometry>
        <mesh filename="package://robomaster_om_description/meshes/DAE/roller/roller.dae"/>
      </geometry>
    </visual>
    <collision>
      <geometry>
        <mesh filename="package://robomaster_om_description/meshes/STL/roller/roller.stl"/>
      </geometry>
    </collision>
    <inertial>
      <origin xyz="0.0 0.0 0.0"/>
      <mass value="0.009"/>
      <inertia ixx="0.000001257" ixy="0" ixz="0" iyy="0.000000342" iyz="0" izz="0.000001257"/>
    </inertial>
    <surface>
      <friction>
        <ode>
          <mu1>1.2</mu1>
          <mu2>1.2</mu2>
          <kp>1e15</kp>
          <kd>1e13</kd>
        </ode>
      </friction>
      <bounce>
        <restitution_coefficient>0.01</restitution_coefficient>
        <threshold>0</threshold>
      </bounce>
      <contact>
        <ode>
          <max_vel>10</max_vel>
        </ode>
      </contact>
    </surface>
  </link>
  <joint name="r8_LR_roller_joint" type="continuous">
    <origin rpy="-1.56 -1.36 0.7854" xyz="-0.019388 -0.0143 -0.063912"/>
    <parent link="left_rear_wheel_link"/>
    <child link="r8_LR_roller_link"/>
    <axis xyz="0 1 0"/>
  </joint>
  <link name="r8_LR_roller_link">
    <visual>
      <geometry>
        <mesh filename="package://robomaster_om_description/meshes/DAE/roller/roller.dae"/>
      </geometry>
    </visual>
    <collision>
      <geometry>
        <mesh filename="package://robomaster_om_description/meshes/STL/roller/roller.stl"/>
      </geometry>
    </collision>
    <inertial>
      <origin xyz="0.0 0.0 0.0"/>
      <mass value="0.009"/>
      <inertia ixx="0.000001257" ixy="0" ixz="0" iyy="0.000000342" iyz="0" izz="0.000001257"/>
    </inertial>
    <surface>
      <friction>
        <ode>
          <mu1>1.2</mu1>
          <mu2>1.2</mu2>
          <kp>1e15</kp>
          <kd>1e13</kd>
        </ode>
      </friction>
      <bounce>
        <restitution_coefficient>0.01</restitution_coefficient>
        <threshold>0</threshold>
      </bounce>
      <contact>
        <ode>
          <max_vel>10</max_vel>
        </ode>
      </contact>
    </surface>
  </link>
  <joint name="r9_LR_roller_joint" type="continuous">
    <origin rpy="0.0698 -0.00524 -0.7854" xyz="0.006546 -0.0143 -0.066466"/>
    <parent link="left_rear_wheel_link"/>
    <child link="r9_LR_roller_link"/>
    <axis xyz="0 1 0"/>
  </joint>
  <link name="r9_LR_roller_link">
    <visual>
      <geometry>
        <mesh filename="package://robomaster_om_description/meshes/DAE/roller/roller.dae"/>
      </geometry>
    </visual>
    <collision>
      <geometry>
        <mesh filename="package://robomaster_om_description/meshes/STL/roller/roller.stl"/>
      </geometry>
    </collision>
    <inertial>
      <origin xyz="0.0 0.0 0.0"/>
      <mass value="0.009"/>
      <inertia ixx="0.000001257" ixy="0" ixz="0" iyy="0.000000342" iyz="0" izz="0.000001257"/>
    </inertial>
    <surface>
      <friction>
        <ode>
          <mu1>1.2</mu1>
          <mu2>1.2</mu2>
          <kp>1e15</kp>
          <kd>1e13</kd>
        </ode>
      </friction>
      <bounce>
        <restitution_coefficient>0.01</restitution_coefficient>
        <threshold>0</threshold>
      </bounce>
      <contact>
        <ode>
          <max_vel>10</max_vel>
        </ode>
      </contact>
    </surface>
  </link>
  <joint name="r10_LR_roller_joint" type="continuous">
    <origin rpy="0.342 -0.1117 -0.7854" xyz="0.031483 -0.0143 -0.058902"/>
    <parent link="left_rear_wheel_link"/>
    <child link="r10_LR_roller_link"/>
    <axis xyz="0 1 0"/>
  </joint>
  <link name="r10_LR_roller_link">
    <visual>
      <geometry>
        <mesh filename="package://robomaster_om_description/meshes/DAE/roller/roller.dae"/>
      </geometry>
    </visual>
    <collision>
      <geometry>
        <mesh filename="package://robomaster_om_description/meshes/STL/roller/roller.stl"/>
      </geometry>
    </collision>
    <inertial>
      <origin xyz="0.0 0.0 0.0"/>
      <mass value="0.009"/>
      <inertia ixx="0.000001257" ixy="0" ixz="0" iyy="0.000000342" iyz="0" izz="0.000001257"/>
    </inertial>
    <surface>
      <friction>
        <ode>
          <mu1>1.2</mu1>
          <mu2>1.2</mu2>
          <kp>1e15</kp>
          <kd>1e13</kd>
        </ode>
      </friction>
      <bounce>
        <restitution_coefficient>0.01</restitution_coefficient>
        <threshold>0</threshold>
      </bounce>
      <contact>
        <ode>
          <max_vel>10</max_vel>
        </ode>
      </contact>
    </surface>
  </link>
  <joint name="r11_LR_roller_joint" type="continuous">
    <origin rpy="0.5777 -0.3194 -0.7854" xyz="0.051628 -0.0143 -0.04237"/>
    <parent link="left_rear_wheel_link"/>
    <child link="r11_LR_roller_link"/>
    <axis xyz="0 1 0"/>
  </joint>
  <link name="r11_LR_roller_link">
    <visual>
      <geometry>
        <mesh filename="package://robomaster_om_description/meshes/DAE/roller/roller.dae"/>
      </geometry>
    </visual>
    <collision>
      <geometry>
        <mesh filename="package://robomaster_om_description/meshes/STL/roller/roller.stl"/>
      </geometry>
    </collision>
    <inertial>
      <origin xyz="0.0 0.0 0.0"/>
      <mass value="0.009"/>
      <inertia ixx="0.000001257" ixy="0" ixz="0" iyy="0.000000342" iyz="0" izz="0.000001257"/>
    </inertial>
    <surface>
      <friction>
        <ode>
          <mu1>1.2</mu1>
          <mu2>1.2</mu2>
          <kp>1e15</kp>
          <kd>1e13</kd>
        </ode>
      </friction>
      <bounce>
        <restitution_coefficient>0.01</restitution_coefficient>
        <threshold>0</threshold>
      </bounce>
      <contact>
        <ode>
          <max_vel>10</max_vel>
        </ode>
      </contact>
    </surface>
  </link>
  <joint name="r12_LR_roller_joint" type="continuous">
    <origin rpy="0.82 -0.52 -0.7854" xyz="0.063912 -0.0143 -0.019388"/>
    <parent link="left_rear_wheel_link"/>
    <child link="r12_LR_roller_link"/>
    <axis xyz="0 1 0"/>
  </joint>
  <link name="r12_LR_roller_link">
    <visual>
      <geometry>
        <mesh filename="package://robomaster_om_description/meshes/DAE/roller/roller.dae"/>
      </geometry>
    </visual>
    <collision>
      <geometry>
        <mesh filename="package://robomaster_om_description/meshes/STL/roller/roller.stl"/>
      </geometry>
    </collision>
    <inertial>
      <origin xyz="0.0 0.0 0.0"/>
      <mass value="0.009"/>
      <inertia ixx="0.000001257" ixy="0" ixz="0" iyy="0.000000342" iyz="0" izz="0.000001257"/>
    </inertial>
    <surface>
      <friction>
        <ode>
          <mu1>1.2</mu1>
          <mu2>1.2</mu2>
          <kp>1e15</kp>
          <kd>1e13</kd>
        </ode>
      </friction>
      <bounce>
        <restitution_coefficient>0.01</restitution_coefficient>
        <threshold>0</threshold>
      </bounce>
      <contact>
        <ode>
          <max_vel>10</max_vel>
        </ode>
      </contact>
    </surface>
  </link>
  <joint name="r13_LR_roller_joint" type="continuous">
    <origin rpy="1.08 -0.62 -0.7854" xyz="0.066466 -0.0143 0.006546"/>
    <parent link="left_rear_wheel_link"/>
    <child link="r13_LR_roller_link"/>
    <axis xyz="0 1 0"/>
  </joint>
  <link name="r13_LR_roller_link">
    <visual>
      <geometry>
        <mesh filename="package://robomaster_om_description/meshes/DAE/roller/roller.dae"/>
      </geometry>
    </visual>
    <collision>
      <geometry>
        <mesh filename="package://robomaster_om_description/meshes/STL/roller/roller.stl"/>
      </geometry>
    </collision>
    <inertial>
      <origin xyz="0.0 0.0 0.0"/>
      <mass value="0.009"/>
      <inertia ixx="0.000001257" ixy="0" ixz="0" iyy="0.000000342" iyz="0" izz="0.000001257"/>
    </inertial>
    <surface>
      <friction>
        <ode>
          <mu1>1.2</mu1>
          <mu2>1.2</mu2>
          <kp>1e15</kp>
          <kd>1e13</kd>
        </ode>
      </friction>
      <bounce>
        <restitution_coefficient>0.01</restitution_coefficient>
        <threshold>0</threshold>
      </bounce>
      <contact>
        <ode>
          <max_vel>10</max_vel>
        </ode>
      </contact>
    </surface>
  </link>
  <joint name="r14_LR_roller_joint" type="continuous">
    <origin rpy="1.28 -0.82 -0.7854" xyz="0.058902 -0.0143 0.031483"/>
    <parent link="left_rear_wheel_link"/>
    <child link="r14_LR_roller_link"/>
    <axis xyz="0 1 0"/>
  </joint>
  <link name="r14_LR_roller_link">
    <visual>
      <geometry>
        <mesh filename="package://robomaster_om_description/meshes/DAE/roller/roller.dae"/>
      </geometry>
    </visual>
    <collision>
      <geometry>
        <mesh filename="package://robomaster_om_description/meshes/STL/roller/roller.stl"/>
      </geometry>
    </collision>
    <inertial>
      <origin xyz="0.0 0.0 0.0"/>
      <mass value="0.009"/>
      <inertia ixx="0.000001257" ixy="0" ixz="0" iyy="0.000000342" iyz="0" izz="0.000001257"/>
    </inertial>
    <surface>
      <friction>
        <ode>
          <mu1>1.2</mu1>
          <mu2>1.2</mu2>
          <kp>1e15</kp>
          <kd>1e13</kd>
        </ode>
      </friction>
      <bounce>
        <restitution_coefficient>0.01</restitution_coefficient>
        <threshold>0</threshold>
      </bounce>
      <contact>
        <ode>
          <max_vel>10</max_vel>
        </ode>
      </contact>
    </surface>
  </link>
  <joint name="r15_LR_roller_joint" type="continuous">
    <origin rpy="1.44 -1.1 -0.7854" xyz="0.04237 -0.0143 0.051628"/>
    <parent link="left_rear_wheel_link"/>
    <child link="r15_LR_roller_link"/>
    <axis xyz="0 1 0"/>
  </joint>
  <link name="r15_LR_roller_link">
    <visual>
      <geometry>
        <mesh filename="package://robomaster_om_description/meshes/DAE/roller/roller.dae"/>
      </geometry>
    </visual>
    <collision>
      <geometry>
        <mesh filename="package://robomaster_om_description/meshes/STL/roller/roller.stl"/>
      </geometry>
    </collision>
    <inertial>
      <origin xyz="0.0 0.0 0.0"/>
      <mass value="0.009"/>
      <inertia ixx="0.000001257" ixy="0" ixz="0" iyy="0.000000342" iyz="0" izz="0.000001257"/>
    </inertial>
    <surface>
      <friction>
        <ode>
          <mu1>1.2</mu1>
          <mu2>1.2</mu2>
          <kp>1e15</kp>
          <kd>1e13</kd>
        </ode>
      </friction>
      <bounce>
        <restitution_coefficient>0.01</restitution_coefficient>
        <threshold>0</threshold>
      </bounce>
      <contact>
        <ode>
          <max_vel>10</max_vel>
        </ode>
      </contact>
    </surface>
  </link>
  <joint name="r16_LR_roller_joint" type="continuous">
    <origin rpy="1.56 -1.36 -0.7854" xyz="0.019388 -0.0143 0.063912"/>
    <parent link="left_rear_wheel_link"/>
    <child link="r16_LR_roller_link"/>
    <axis xyz="0 1 0"/>
  </joint>
  <link name="r16_LR_roller_link">
    <visual>
      <geometry>
        <mesh filename="package://robomaster_om_description/meshes/DAE/roller/roller.dae"/>
      </geometry>
    </visual>
    <collision>
      <geometry>
        <mesh filename="package://robomaster_om_description/meshes/STL/roller/roller.stl"/>
      </geometry>
    </collision>
    <inertial>
      <origin xyz="0.0 0.0 0.0"/>
      <mass value="0.009"/>
      <inertia ixx="0.000001257" ixy="0" ixz="0" iyy="0.000000342" iyz="0" izz="0.000001257"/>
    </inertial>
    <surface>
      <friction>
        <ode>
          <mu1>1.2</mu1>
          <mu2>1.2</mu2>
          <kp>1e15</kp>
          <kd>1e13</kd>
        </ode>
      </friction>
      <bounce>
        <restitution_coefficient>0.01</restitution_coefficient>
        <threshold>0</threshold>
      </bounce>
      <contact>
        <ode>
          <max_vel>10</max_vel>
        </ode>
      </contact>
    </surface>
  </link>
  <joint name="base_to_manipulator" type="fixed">
    <parent link="base_link"/>
    <child link="link1"/>
    <origin rpy="0 0 0" xyz="0 0 0"/>
  </joint>
  <!-- LiDAR -->
  <joint name="laser_joint" type="fixed">
    <parent link="base_link"/>
    <child link="laser_frame"/>
    <origin rpy="0 0 0" xyz="-0.175 0 0.075"/>
  </joint>
  <link name="laser_frame">
    <visual>
      <geometry>
        <cylinder length="0.03" radius="0.03"/>
      </geometry>
      <material name="red"/>
    </visual>
    <collision>
      <geometry>
        <cylinder length="0.03" radius="0.03"/>
      </geometry>
    </collision>
  </link>
  <transmission name="right_front_wheel_trans">
    <type>transmission_interface/SimpleTransmission</type>
    <joint name="right_front_wheel_joint">
      <hardwareInterface>hardware_interface/VelocityJointInterface</hardwareInterface>
    </joint>
    <actuator name="right_front_wheel_motor">
      <hardwareInterface>hardware_interface/VelocityJointInterface</hardwareInterface>
      <mechanicalReduction>30</mechanicalReduction>
    </actuator>
  </transmission>
  <transmission name="left_front_wheel_trans">
    <type>transmission_interface/SimpleTransmission</type>
    <joint name="left_front_wheel_joint">
      <hardwareInterface>hardware_interface/VelocityJointInterface</hardwareInterface>
    </joint>
    <actuator name="left_front_wheel_motor">
      <hardwareInterface>hardware_interface/VelocityJointInterface</hardwareInterface>
      <mechanicalReduction>30</mechanicalReduction>
    </actuator>
  </transmission>
  <transmission name="right_rear_wheel_trans">
    <type>transmission_interface/SimpleTransmission</type>
    <joint name="right_rear_wheel_joint">
      <hardwareInterface>hardware_interface/VelocityJointInterface</hardwareInterface>
    </joint>
    <actuator name="right_rear_wheel_motor">
      <hardwareInterface>hardware_interface/VelocityJointInterface</hardwareInterface>
      <mechanicalReduction>30</mechanicalReduction>
    </actuator>
  </transmission>
  <transmission name="left_rear_wheel_trans">
    <type>transmission_interface/SimpleTransmission</type>
    <joint name="left_rear_wheel_joint">
      <hardwareInterface>hardware_interface/VelocityJointInterface</hardwareInterface>
    </joint>
    <actuator name="left_rear_wheel_motor">
      <hardwareInterface>hardware_interface/VelocityJointInterface</hardwareInterface>
      <mechanicalReduction>30</mechanicalReduction>
    </actuator>
  </transmission>
  <!-- =============== Gazebo =============== -->
  <gazebo>
    <plugin filename="libgazebo_ros_control.so" name="gazebo_ros_control"/>
  </gazebo>
  <gazebo reference="base_link">
    <selfCollide>false</selfCollide>
    <mu1 value="0.05"/>
    <mu2 value="0.05"/>
  </gazebo>
  <gazebo reference="right_front_wheel_link">
    <selfCollide>false</selfCollide>
    <mu1 value="0.8"/>
    <mu2 value="0.8"/>
  </gazebo>
  <gazebo reference="left_front_wheel_link">
    <selfCollide>false</selfCollide>
    <mu1 value="0.8"/>
    <mu2 value="0.8"/>
  </gazebo>
  <gazebo reference="right_rear_wheel_link">
    <selfCollide>false</selfCollide>
    <mu1 value="0.8"/>
    <mu2 value="0.8"/>
  </gazebo>
  <gazebo reference="left_rear_wheel_link">
    <selfCollide>false</selfCollide>
    <mu1 value="0.8"/>
    <mu2 value="0.8"/>
  </gazebo>
  <gazebo reference="laser_frame">
    <material>Gazebo/Red</material>
    <sensor name="laser" type="ray">
      <pose>0 0 0 0 0 0</pose>
      <visualize>true</visualize>
      <update_rate>1000</update_rate>
      <ray>
        <scan>
          <horizontal>
            <samples>360</samples>
            <min_angle>-3.14</min_angle>
            <max_angle>3.14</max_angle>
          </horizontal>
        </scan>
        <range>
          <min>0.45</min>
          <max>12</max>
        </range>
      </ray>
      <plugin filename="libgazebo_ros_laser.so" name="laser_controller">
        <topicName>/scan</topicName>
        <frameName>laser_frame</frameName>
      </plugin>
    </sensor>
  </gazebo>
</robot>
